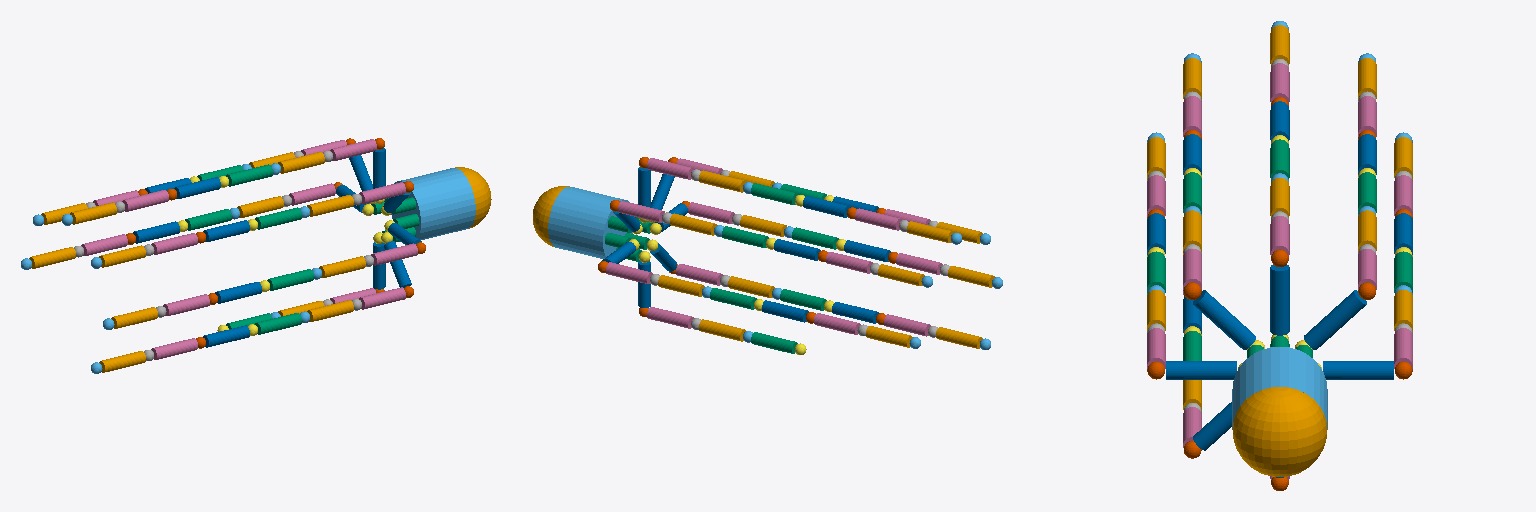
--- What the picture shows (computed from the rendered views, not written in the file) ---
3 views of the same robot in one strip: view 1: azimuth 30°, elevation 25°; view 2: azimuth 150°, elevation 25°; view 3: azimuth 270°, elevation 25° (orthographic).
Model sentinel/octopus_7_arms_3_segments with 108 links and 107 joints (39 revolute, 68 fixed), rooted at eye, posed every joint at zero.
Links seen in each view (by area): view 1: head, eye, branch_41_cylinder, branch_51_cylinder, branch_54_cylinder, branch_04_cylinder, branch_33_cylinder, branch_44_cylinder, branch_23_cylinder, branch_25_cylinder, branch_26_cylinder, branch_32_cylinder (+20 smaller); view 2: head, eye, branch_12_cylinder, branch_25_cylinder, branch_62_cylinder, branch_03_cylinder, branch_22_cylinder, branch_43_cylinder, branch_46_cylinder, branch_55_cylinder, branch_01_cylinder, branch_04_cylinder (+23 smaller); view 3: eye, head, branch_20_cylinder, branch_10_cylinder, branch_30_cylinder, branch_00_cylinder, branch_40_cylinder, branch_50_cylinder, branch_25_cylinder, branch_21_cylinder, branch_26_cylinder, branch_23_cylinder (+28 smaller).
Link boxes in pixels (x1=…): head: x1=391, y1=168, x2=475, y2=240; eye: x1=455, y1=167, x2=491, y2=228; branch_41_cylinder: x1=371, y1=243, x2=417, y2=265; branch_51_cylinder: x1=359, y1=287, x2=405, y2=309; branch_54_cylinder: x1=203, y1=325, x2=249, y2=347; branch_04_cylinder: x1=133, y1=221, x2=179, y2=243; branch_33_cylinder: x1=255, y1=207, x2=301, y2=229; branch_44_cylinder: x1=215, y1=282, x2=261, y2=303; branch_23_cylinder: x1=226, y1=164, x2=272, y2=186; branch_25_cylinder: x1=122, y1=190, x2=168, y2=211; branch_26_cylinder: x1=70, y1=202, x2=116, y2=224; branch_32_cylinder: x1=307, y1=195, x2=353, y2=216; head: x1=548, y1=187, x2=632, y2=258; eye: x1=533, y1=186, x2=569, y2=246; branch_12_cylinder: x1=670, y1=213, x2=716, y2=235; branch_25_cylinder: x1=855, y1=208, x2=901, y2=230; branch_62_cylinder: x1=699, y1=319, x2=745, y2=341; branch_03_cylinder: x1=710, y1=288, x2=756, y2=309; branch_22_cylinder: x1=699, y1=170, x2=745, y2=192; branch_43_cylinder: x1=792, y1=227, x2=838, y2=249; branch_46_cylinder: x1=948, y1=266, x2=994, y2=287; branch_55_cylinder: x1=884, y1=314, x2=930, y2=336; branch_01_cylinder: x1=606, y1=262, x2=652, y2=283; branch_04_cylinder: x1=762, y1=300, x2=808, y2=322; eye: x1=1232, y1=387, x2=1327, y2=476; head: x1=1232, y1=347, x2=1327, y2=428; branch_20_cylinder: x1=1270, y1=265, x2=1289, y2=335; branch_10_cylinder: x1=1304, y1=290, x2=1366, y2=349; branch_30_cylinder: x1=1193, y1=290, x2=1255, y2=349; branch_00_cylinder: x1=1323, y1=361, x2=1393, y2=379; branch_40_cylinder: x1=1166, y1=361, x2=1236, y2=379; branch_50_cylinder: x1=1193, y1=402, x2=1231, y2=450; branch_25_cylinder: x1=1270, y1=63, x2=1289, y2=102; branch_21_cylinder: x1=1270, y1=216, x2=1289, y2=255; branch_26_cylinder: x1=1270, y1=25, x2=1289, y2=64; branch_23_cylinder: x1=1270, y1=139, x2=1289, y2=178.
Bounding box of the posed robot: 1.55 × 0.56 × 0.5601 m (x, y, z).
Geometry: primitives only (box / cylinder / sphere), no mesh files.

URDF robot description (sentinel/octopus_7_arms_3_segments):
<?xml version="1.0"?>
<robot name="sentinel/octopus_7_arms_3_segments">
<link name="eye">
  <inertial>
   <mass value="1"/>
   <inertia ixx="0.004000000000000001" ixy="0" ixz="0" iyy="0.004000000000000001" iyz="0" izz="0.004000000000000001"/>
  </inertial>
  <collision>
    <origin rpy="0 0 0" xyz="0 0 0"/>
    <geometry>
      <sphere radius="0.1"/>
    </geometry>
  </collision>
  <visual>
    <origin rpy="0 0 0" xyz="0 0 0"/>
    <geometry>
      <sphere radius="0.1"/>
    </geometry>
  </visual>
</link>

 <link name="head">
  <inertial>
    <mass value="1"/>
    <inertia ixx="0.0058333333333333345" ixy="0" ixz="0" iyy="0.0058333333333333345" iyz="0" izz="0.0025000000000000005"/>
  </inertial>
  <visual>
    <origin rpy="0 1.57 0" xyz="-0.1 0 0"/>
    <geometry>
      <cylinder length="0.2" radius="0.1"/>
    </geometry>
  </visual>
  <collision>
    <origin rpy="0 1.57 0" xyz="-0.1 0 0"/>
    <geometry>
      <cylinder length="0.2" radius="0.1"/>
    </geometry>
  </collision>
 </link>

<joint name="joint_fixed_eye_head" type="fixed">
  <origin rpy="0 0 0" xyz="0 0 0"/>
  <parent link="eye"/>
  <child link="head"/>
</joint>

<!--############################################################################
branch_00
##############################################################################-->
 <link name="branch_00_cylinder_stub">
  <inertial>
    <mass value="1"/>
    <inertia ixx="0.0005687499999999999" ixy="0" ixz="0" iyy="0.0005687499999999999" iyz="0" izz="0.0001"/>
  </inertial>
  <visual>
    <origin rpy="0 1.57 0" xyz="-0.0375 0 0"/>
    <geometry>
      <cylinder length="0.075" radius="0.02"/>
    </geometry>
  </visual>
  <collision>
    <origin rpy="0 1.57 0" xyz="-0.0375 0 0"/>
    <geometry>
      <cylinder length="0.075" radius="0.02"/>
    </geometry>
  </collision>
 </link>

<joint name="joint_fixed_head_branch_00_cylinder_stub" type="fixed">
  <origin rpy="0 0 0" xyz="-0.2 0.06999999999999999 0.0"/>
  <parent link="head"/>
  <child link="branch_00_cylinder_stub"/>
</joint>

<link name="branch_00_sphere_stub">
  <inertial>
   <mass value="1"/>
   <inertia ixx="0.00014439999999999999" ixy="0" ixz="0" iyy="0.00014439999999999999" iyz="0" izz="0.00014439999999999999"/>
  </inertial>
  <collision>
    <origin rpy="0 0 0" xyz="-0.095 0 0"/>
    <geometry>
      <sphere radius="0.019"/>
    </geometry>
  </collision>
  <visual>
    <origin rpy="0 0 0" xyz="-0.095 0 0"/>
    <geometry>
      <sphere radius="0.019"/>
    </geometry>
  </visual>
</link>

<joint name="joint_fixed_branch_00_cylinder_stub_branch_00_sphere_stub" type="fixed">
  <origin rpy="0 0 0" xyz="0 0 0"/>
  <parent link="branch_00_cylinder_stub"/>
  <child link="branch_00_sphere_stub"/>
</joint>

 <link name="branch_00_cylinder">
  <inertial>
    <mass value="1"/>
    <inertia ixx="0.0019749999999999998" ixy="0" ixz="0" iyy="0.0019749999999999998" iyz="0" izz="0.0001"/>
  </inertial>
  <visual>
    <origin rpy="0 1.5707963267948966 1.57" xyz="-0.095 0.095 0.0"/>
    <geometry>
      <cylinder length="0.15" radius="0.02"/>
    </geometry>
  </visual>
  <collision>
    <origin rpy="0 1.5707963267948966 1.57" xyz="-0.095 0.095 0.0"/>
    <geometry>
      <cylinder length="0.15" radius="0.02"/>
    </geometry>
  </collision>
 </link>

<joint name="joint_fixed_branch_00_sphere_stub_branch_00_cylinder" type="fixed">
  <origin rpy="0 0 0" xyz="0 0 0"/>
  <parent link="branch_00_sphere_stub"/>
  <child link="branch_00_cylinder"/>
</joint>

<link name="branch_00">
  <inertial>
   <mass value="1"/>
   <inertia ixx="0.00014439999999999999" ixy="0" ixz="0" iyy="0.00014439999999999999" iyz="0" izz="0.00014439999999999999"/>
  </inertial>
  <collision>
    <origin rpy="0 0 0" xyz="0 0 0"/>
    <geometry>
      <sphere radius="0.019"/>
    </geometry>
  </collision>
  <visual>
    <origin rpy="0 0 0" xyz="0 0 0"/>
    <geometry>
      <sphere radius="0.019"/>
    </geometry>
  </visual>
</link>

<joint name="joint_fixed_branch_00_cylinder_branch_00" type="fixed">
  <origin rpy="0 0 0" xyz="-0.095 0.19 0.0"/>
  <parent link="branch_00_cylinder"/>
  <child link="branch_00"/>
</joint>

<!--############################################################################
branch_01
##############################################################################-->
 <link name="branch_01_cylinder">
  <inertial>
    <mass value="1"/>
    <inertia ixx="0.0019749999999999998" ixy="0" ixz="0" iyy="0.0019749999999999998" iyz="0" izz="0.0001"/>
  </inertial>
  <visual>
    <origin rpy="0 1.57 0" xyz="-0.095 0 0"/>
    <geometry>
      <cylinder length="0.15" radius="0.02"/>
    </geometry>
  </visual>
  <collision>
    <origin rpy="0 1.57 0" xyz="-0.095 0 0"/>
    <geometry>
      <cylinder length="0.15" radius="0.02"/>
    </geometry>
  </collision>
 </link>

<joint name="joint_revolute_branch_00_branch_01_cylinder_Z" type="revolute">
  <origin rpy="0 0 0" xyz="0 0 0"/>
  <parent link="branch_00"/>
  <child link="branch_01_cylinder"/>
  <axis xyz="0 0.0 -1.0"/>
  <dynamics damping="0.01" friction="0.5"/>
  <limit lower="-1.5707963267948966" upper="1.5707963267948966" effort="0.01" velocity="100"/>
</joint>

<link name="branch_01">
  <inertial>
   <mass value="1"/>
   <inertia ixx="0.00014439999999999999" ixy="0" ixz="0" iyy="0.00014439999999999999" iyz="0" izz="0.00014439999999999999"/>
  </inertial>
  <collision>
    <origin rpy="0 0 0" xyz="0 0 0"/>
    <geometry>
      <sphere radius="0.019"/>
    </geometry>
  </collision>
  <visual>
    <origin rpy="0 0 0" xyz="0 0 0"/>
    <geometry>
      <sphere radius="0.019"/>
    </geometry>
  </visual>
</link>

<joint name="joint_fixed_branch_01_cylinder_branch_01" type="fixed">
  <origin rpy="0 0 0" xyz="-0.19 0 0"/>
  <parent link="branch_01_cylinder"/>
  <child link="branch_01"/>
</joint>

<!--############################################################################
branch_02
##############################################################################-->
 <link name="branch_02_cylinder">
  <inertial>
    <mass value="1"/>
    <inertia ixx="0.0019749999999999998" ixy="0" ixz="0" iyy="0.0019749999999999998" iyz="0" izz="0.0001"/>
  </inertial>
  <visual>
    <origin rpy="0 1.57 0" xyz="-0.095 0 0"/>
    <geometry>
      <cylinder length="0.15" radius="0.02"/>
    </geometry>
  </visual>
  <collision>
    <origin rpy="0 1.57 0" xyz="-0.095 0 0"/>
    <geometry>
      <cylinder length="0.15" radius="0.02"/>
    </geometry>
  </collision>
 </link>

<joint name="joint_revolute_branch_01_branch_02_cylinder_Z" type="revolute">
  <origin rpy="0 0 0" xyz="0 0 0"/>
  <parent link="branch_01"/>
  <child link="branch_02_cylinder"/>
  <axis xyz="0 0.0 -1.0"/>
  <dynamics damping="0.01" friction="0.5"/>
  <limit lower="-1.5707963267948966" upper="1.5707963267948966" effort="0.01" velocity="100"/>
</joint>

<link name="branch_02">
  <inertial>
   <mass value="1"/>
   <inertia ixx="0.00014439999999999999" ixy="0" ixz="0" iyy="0.00014439999999999999" iyz="0" izz="0.00014439999999999999"/>
  </inertial>
  <collision>
    <origin rpy="0 0 0" xyz="0 0 0"/>
    <geometry>
      <sphere radius="0.019"/>
    </geometry>
  </collision>
  <visual>
    <origin rpy="0 0 0" xyz="0 0 0"/>
    <geometry>
      <sphere radius="0.019"/>
    </geometry>
  </visual>
</link>

<joint name="joint_fixed_branch_02_cylinder_branch_02" type="fixed">
  <origin rpy="0 0 0" xyz="-0.19 0 0"/>
  <parent link="branch_02_cylinder"/>
  <child link="branch_02"/>
</joint>

<!--############################################################################
branch_03
##############################################################################-->
 <link name="branch_03_cylinder">
  <inertial>
    <mass value="1"/>
    <inertia ixx="0.0019749999999999998" ixy="0" ixz="0" iyy="0.0019749999999999998" iyz="0" izz="0.0001"/>
  </inertial>
  <visual>
    <origin rpy="0 1.57 0" xyz="-0.095 0 0"/>
    <geometry>
      <cylinder length="0.15" radius="0.02"/>
    </geometry>
  </visual>
  <collision>
    <origin rpy="0 1.57 0" xyz="-0.095 0 0"/>
    <geometry>
      <cylinder length="0.15" radius="0.02"/>
    </geometry>
  </collision>
 </link>

<joint name="joint_revolute_branch_02_branch_03_cylinder_Z" type="revolute">
  <origin rpy="0 0 0" xyz="0 0 0"/>
  <parent link="branch_02"/>
  <child link="branch_03_cylinder"/>
  <axis xyz="0 0.0 -1.0"/>
  <dynamics damping="0.01" friction="0.5"/>
  <limit lower="-1.5707963267948966" upper="1.5707963267948966" effort="0.01" velocity="100"/>
</joint>

<link name="branch_03">
  <inertial>
   <mass value="1"/>
   <inertia ixx="0.00014439999999999999" ixy="0" ixz="0" iyy="0.00014439999999999999" iyz="0" izz="0.00014439999999999999"/>
  </inertial>
  <collision>
    <origin rpy="0 0 0" xyz="0 0 0"/>
    <geometry>
      <sphere radius="0.019"/>
    </geometry>
  </collision>
  <visual>
    <origin rpy="0 0 0" xyz="0 0 0"/>
    <geometry>
      <sphere radius="0.019"/>
    </geometry>
  </visual>
</link>

<joint name="joint_fixed_branch_03_cylinder_branch_03" type="fixed">
  <origin rpy="0 0 0" xyz="-0.19 0 0"/>
  <parent link="branch_03_cylinder"/>
  <child link="branch_03"/>
</joint>

<!--############################################################################
branch_04
##############################################################################-->
 <link name="branch_04_cylinder">
  <inertial>
    <mass value="1"/>
    <inertia ixx="0.0019749999999999998" ixy="0" ixz="0" iyy="0.0019749999999999998" iyz="0" izz="0.0001"/>
  </inertial>
  <visual>
    <origin rpy="0 1.57 0" xyz="-0.095 0 0"/>
    <geometry>
      <cylinder length="0.15" radius="0.02"/>
    </geometry>
  </visual>
  <collision>
    <origin rpy="0 1.57 0" xyz="-0.095 0 0"/>
    <geometry>
      <cylinder length="0.15" radius="0.02"/>
    </geometry>
  </collision>
 </link>

<joint name="joint_revolute_branch_03_branch_04_cylinder_Z" type="revolute">
  <origin rpy="0 0 0" xyz="0 0 0"/>
  <parent link="branch_03"/>
  <child link="branch_04_cylinder"/>
  <axis xyz="0 0.0 -1.0"/>
  <dynamics damping="0.01" friction="0.5"/>
  <limit lower="-1.5707963267948966" upper="1.5707963267948966" effort="0.01" velocity="100"/>
</joint>

<link name="branch_04">
  <inertial>
   <mass value="1"/>
   <inertia ixx="0.00014439999999999999" ixy="0" ixz="0" iyy="0.00014439999999999999" iyz="0" izz="0.00014439999999999999"/>
  </inertial>
  <collision>
    <origin rpy="0 0 0" xyz="0 0 0"/>
    <geometry>
      <sphere radius="0.019"/>
    </geometry>
  </collision>
  <visual>
    <origin rpy="0 0 0" xyz="0 0 0"/>
    <geometry>
      <sphere radius="0.019"/>
    </geometry>
  </visual>
</link>

<joint name="joint_fixed_branch_04_cylinder_branch_04" type="fixed">
  <origin rpy="0 0 0" xyz="-0.19 0 0"/>
  <parent link="branch_04_cylinder"/>
  <child link="branch_04"/>
</joint>

<!--############################################################################
branch_05
##############################################################################-->
 <link name="branch_05_cylinder">
  <inertial>
    <mass value="1"/>
    <inertia ixx="0.0019749999999999998" ixy="0" ixz="0" iyy="0.0019749999999999998" iyz="0" izz="0.0001"/>
  </inertial>
  <visual>
    <origin rpy="0 1.57 0" xyz="-0.095 0 0"/>
    <geometry>
      <cylinder length="0.15" radius="0.02"/>
    </geometry>
  </visual>
  <collision>
    <origin rpy="0 1.57 0" xyz="-0.095 0 0"/>
    <geometry>
      <cylinder length="0.15" radius="0.02"/>
    </geometry>
  </collision>
 </link>

<joint name="joint_revolute_branch_04_branch_05_cylinder_Z" type="revolute">
  <origin rpy="0 0 0" xyz="0 0 0"/>
  <parent link="branch_04"/>
  <child link="branch_05_cylinder"/>
  <axis xyz="0 0.0 -1.0"/>
  <dynamics damping="0.01" friction="0.5"/>
  <limit lower="-1.5707963267948966" upper="1.5707963267948966" effort="0.01" velocity="100"/>
</joint>

<link name="branch_05">
  <inertial>
   <mass value="1"/>
   <inertia ixx="0.00014439999999999999" ixy="0" ixz="0" iyy="0.00014439999999999999" iyz="0" izz="0.00014439999999999999"/>
  </inertial>
  <collision>
    <origin rpy="0 0 0" xyz="0 0 0"/>
    <geometry>
      <sphere radius="0.019"/>
    </geometry>
  </collision>
  <visual>
    <origin rpy="0 0 0" xyz="0 0 0"/>
    <geometry>
      <sphere radius="0.019"/>
    </geometry>
  </visual>
</link>

<joint name="joint_fixed_branch_05_cylinder_branch_05" type="fixed">
  <origin rpy="0 0 0" xyz="-0.19 0 0"/>
  <parent link="branch_05_cylinder"/>
  <child link="branch_05"/>
</joint>

<!--############################################################################
branch_06
##############################################################################-->
 <link name="branch_06_cylinder">
  <inertial>
    <mass value="1"/>
    <inertia ixx="0.0019749999999999998" ixy="0" ixz="0" iyy="0.0019749999999999998" iyz="0" izz="0.0001"/>
  </inertial>
  <visual>
    <origin rpy="0 1.57 0" xyz="-0.095 0 0"/>
    <geometry>
      <cylinder length="0.15" radius="0.02"/>
    </geometry>
  </visual>
  <collision>
    <origin rpy="0 1.57 0" xyz="-0.095 0 0"/>
    <geometry>
      <cylinder length="0.15" radius="0.02"/>
    </geometry>
  </collision>
 </link>

<joint name="joint_revolute_branch_05_branch_06_cylinder_Z" type="revolute">
  <origin rpy="0 0 0" xyz="0 0 0"/>
  <parent link="branch_05"/>
  <child link="branch_06_cylinder"/>
  <axis xyz="0 0.0 -1.0"/>
  <dynamics damping="0.01" friction="0.5"/>
  <limit lower="-1.5707963267948966" upper="1.5707963267948966" effort="0.01" velocity="100"/>
</joint>

<link name="branch_06">
  <inertial>
   <mass value="1"/>
   <inertia ixx="0.00014439999999999999" ixy="0" ixz="0" iyy="0.00014439999999999999" iyz="0" izz="0.00014439999999999999"/>
  </inertial>
  <collision>
    <origin rpy="0 0 0" xyz="0 0 0"/>
    <geometry>
      <sphere radius="0.019"/>
    </geometry>
  </collision>
  <visual>
    <origin rpy="0 0 0" xyz="0 0 0"/>
    <geometry>
      <sphere radius="0.019"/>
    </geometry>
  </visual>
</link>

<joint name="joint_fixed_branch_06_cylinder_branch_06" type="fixed">
  <origin rpy="0 0 0" xyz="-0.19 0 0"/>
  <parent link="branch_06_cylinder"/>
  <child link="branch_06"/>
</joint>

<!--############################################################################
branch_10
##############################################################################-->
 <link name="branch_10_cylinder_stub">
  <inertial>
    <mass value="1"/>
    <inertia ixx="0.0005687499999999999" ixy="0" ixz="0" iyy="0.0005687499999999999" iyz="0" izz="0.0001"/>
  </inertial>
  <visual>
    <origin rpy="0 1.57 0" xyz="-0.0375 0 0"/>
    <geometry>
      <cylinder length="0.075" radius="0.02"/>
    </geometry>
  </visual>
  <collision>
    <origin rpy="0 1.57 0" xyz="-0.0375 0 0"/>
    <geometry>
      <cylinder length="0.075" radius="0.02"/>
    </geometry>
  </collision>
 </link>

<joint name="joint_fixed_head_branch_10_cylinder_stub" type="fixed">
  <origin rpy="0 0 0" xyz="-0.2 0.049497474683058325 0.04949747468305832"/>
  <parent link="head"/>
  <child link="branch_10_cylinder_stub"/>
</joint>

<link name="branch_10_sphere_stub">
  <inertial>
   <mass value="1"/>
   <inertia ixx="0.00014439999999999999" ixy="0" ixz="0" iyy="0.00014439999999999999" iyz="0" izz="0.00014439999999999999"/>
  </inertial>
  <collision>
    <origin rpy="0 0 0" xyz="-0.095 0 0"/>
    <geometry>
      <sphere radius="0.019"/>
    </geometry>
  </collision>
  <visual>
    <origin rpy="0 0 0" xyz="-0.095 0 0"/>
    <geometry>
      <sphere radius="0.019"/>
    </geometry>
  </visual>
</link>

<joint name="joint_fixed_branch_10_cylinder_stub_branch_10_sphere_stub" type="fixed">
  <origin rpy="0 0 0" xyz="0 0 0"/>
  <parent link="branch_10_cylinder_stub"/>
  <child link="branch_10_sphere_stub"/>
</joint>

 <link name="branch_10_cylinder">
  <inertial>
    <mass value="1"/>
    <inertia ixx="0.0019749999999999998" ixy="0" ixz="0" iyy="0.0019749999999999998" iyz="0" izz="0.0001"/>
  </inertial>
  <visual>
    <origin rpy="0 0.7853981633974484 1.57" xyz="-0.095 0.06717514421272201 0.06717514421272201"/>
    <geometry>
      <cylinder length="0.15" radius="0.02"/>
    </geometry>
  </visual>
  <collision>
    <origin rpy="0 0.7853981633974484 1.57" xyz="-0.095 0.06717514421272201 0.06717514421272201"/>
    <geometry>
      <cylinder length="0.15" radius="0.02"/>
    </geometry>
  </collision>
 </link>

<joint name="joint_fixed_branch_10_sphere_stub_branch_10_cylinder" type="fixed">
  <origin rpy="0 0 0" xyz="0 0 0"/>
  <parent link="branch_10_sphere_stub"/>
  <child link="branch_10_cylinder"/>
</joint>

<link name="branch_10">
  <inertial>
   <mass value="1"/>
   <inertia ixx="0.00014439999999999999" ixy="0" ixz="0" iyy="0.00014439999999999999" iyz="0" izz="0.00014439999999999999"/>
  </inertial>
  <collision>
    <origin rpy="0 0 0" xyz="0 0 0"/>
    <geometry>
      <sphere radius="0.019"/>
    </geometry>
  </collision>
  <visual>
    <origin rpy="0 0 0" xyz="0 0 0"/>
    <geometry>
      <sphere radius="0.019"/>
    </geometry>
  </visual>
</link>

<joint name="joint_fixed_branch_10_cylinder_branch_10" type="fixed">
  <origin rpy="0 0 0" xyz="-0.095 0.13435028842544403 0.13435028842544403"/>
  <parent link="branch_10_cylinder"/>
  <child link="branch_10"/>
</joint>

<!--############################################################################
branch_11
##############################################################################-->
 <link name="branch_11_cylinder">
  <inertial>
    <mass value="1"/>
    <inertia ixx="0.0019749999999999998" ixy="0" ixz="0" iyy="0.0019749999999999998" iyz="0" izz="0.0001"/>
  </inertial>
  <visual>
    <origin rpy="0 1.57 0" xyz="-0.095 0 0"/>
    <geometry>
      <cylinder length="0.15" radius="0.02"/>
    </geometry>
  </visual>
  <collision>
    <origin rpy="0 1.57 0" xyz="-0.095 0 0"/>
    <geometry>
      <cylinder length="0.15" radius="0.02"/>
    </geometry>
  </collision>
 </link>

<joint name="joint_revolute_branch_10_branch_11_cylinder_Z" type="revolute">
  <origin rpy="0 0 0" xyz="0 0 0"/>
  <parent link="branch_10"/>
  <child link="branch_11_cylinder"/>
  <axis xyz="0 0.7071067811865475 -0.7071067811865476"/>
  <dynamics damping="0.01" friction="0.5"/>
  <limit lower="-1.5707963267948966" upper="1.5707963267948966" effort="0.01" velocity="100"/>
</joint>

<link name="branch_11">
  <inertial>
   <mass value="1"/>
   <inertia ixx="0.00014439999999999999" ixy="0" ixz="0" iyy="0.00014439999999999999" iyz="0" izz="0.00014439999999999999"/>
  </inertial>
  <collision>
    <origin rpy="0 0 0" xyz="0 0 0"/>
    <geometry>
      <sphere radius="0.019"/>
    </geometry>
  </collision>
  <visual>
    <origin rpy="0 0 0" xyz="0 0 0"/>
    <geometry>
      <sphere radius="0.019"/>
    </geometry>
  </visual>
</link>

<joint name="joint_fixed_branch_11_cylinder_branch_11" type="fixed">
  <origin rpy="0 0 0" xyz="-0.19 0 0"/>
  <parent link="branch_11_cylinder"/>
  <child link="branch_11"/>
</joint>

<!--############################################################################
branch_12
##############################################################################-->
 <link name="branch_12_cylinder">
  <inertial>
    <mass value="1"/>
    <inertia ixx="0.0019749999999999998" ixy="0" ixz="0" iyy="0.0019749999999999998" iyz="0" izz="0.0001"/>
  </inertial>
  <visual>
    <origin rpy="0 1.57 0" xyz="-0.095 0 0"/>
    <geometry>
      <cylinder length="0.15" radius="0.02"/>
    </geometry>
  </visual>
  <collision>
    <origin rpy="0 1.57 0" xyz="-0.095 0 0"/>
    <geometry>
      <cylinder length="0.15" radius="0.02"/>
    </geometry>
  </collision>
 </link>

<joint name="joint_revolute_branch_11_branch_12_cylinder_Z" type="revolute">
  <origin rpy="0 0 0" xyz="0 0 0"/>
  <parent link="branch_11"/>
  <child link="branch_12_cylinder"/>
  <axis xyz="0 0.7071067811865475 -0.7071067811865476"/>
  <dynamics damping="0.01" friction="0.5"/>
  <limit lower="-1.5707963267948966" upper="1.5707963267948966" effort="0.01" velocity="100"/>
</joint>

<link name="branch_12">
  <inertial>
   <mass value="1"/>
   <inertia ixx="0.00014439999999999999" ixy="0" ixz="0" iyy="0.00014439999999999999" iyz="0" izz="0.00014439999999999999"/>
  </inertial>
  <collision>
    <origin rpy="0 0 0" xyz="0 0 0"/>
    <geometry>
      <sphere radius="0.019"/>
    </geometry>
  </collision>
  <visual>
    <origin rpy="0 0 0" xyz="0 0 0"/>
    <geometry>
      <sphere radius="0.019"/>
    </geometry>
  </visual>
</link>

<joint name="joint_fixed_branch_12_cylinder_branch_12" type="fixed">
  <origin rpy="0 0 0" xyz="-0.19 0 0"/>
  <parent link="branch_12_cylinder"/>
  <child link="branch_12"/>
</joint>

<!--############################################################################
branch_13
##############################################################################-->
 <link name="branch_13_cylinder">
  <inertial>
    <mass value="1"/>
    <inertia ixx="0.0019749999999999998" ixy="0" ixz="0" iyy="0.0019749999999999998" iyz="0" izz="0.0001"/>
  </inertial>
  <visual>
    <origin rpy="0 1.57 0" xyz="-0.095 0 0"/>
    <geometry>
      <cylinder length="0.15" radius="0.02"/>
    </geometry>
  </visual>
  <collision>
    <origin rpy="0 1.57 0" xyz="-0.095 0 0"/>
    <geometry>
      <cylinder length="0.15" radius="0.02"/>
    </geometry>
  </collision>
 </link>

<joint name="joint_revolute_branch_12_branch_13_cylinder_Z" type="revolute">
  <origin rpy="0 0 0" xyz="0 0 0"/>
  <parent link="branch_12"/>
  <child link="branch_13_cylinder"/>
  <axis xyz="0 0.7071067811865475 -0.7071067811865476"/>
  <dynamics damping="0.01" friction="0.5"/>
  <limit lower="-1.5707963267948966" upper="1.5707963267948966" effort="0.01" velocity="100"/>
</joint>

<link name="branch_13">
  <inertial>
   <mass value="1"/>
   <inertia ixx="0.00014439999999999999" ixy="0" ixz="0" iyy="0.00014439999999999999" iyz="0" izz="0.00014439999999999999"/>
  </inertial>
  <collision>
    <origin rpy="0 0 0" xyz="0 0 0"/>
    <geometry>
      <sphere radius="0.019"/>
    </geometry>
  </collision>
  <visual>
    <origin rpy="0 0 0" xyz="0 0 0"/>
    <geometry>
      <sphere radius="0.019"/>
    </geometry>
  </visual>
</link>

<joint name="joint_fixed_branch_13_cylinder_branch_13" type="fixed">
  <origin rpy="0 0 0" xyz="-0.19 0 0"/>
  <parent link="branch_13_cylinder"/>
  <child link="branch_13"/>
</joint>

<!--############################################################################
branch_14
##############################################################################-->
 <link name="branch_14_cylinder">
  <inertial>
    <mass value="1"/>
    <inertia ixx="0.0019749999999999998" ixy="0" ixz="0" iyy="0.0019749999999999998" iyz="0" izz="0.0001"/>
  </inertial>
  <visual>
    <origin rpy="0 1.57 0" xyz="-0.095 0 0"/>
    <geometry>
      <cylinder length="0.15" radius="0.02"/>
    </geometry>
  </visual>
  <collision>
    <origin rpy="0 1.57 0" xyz="-0.095 0 0"/>
    <geometry>
      <cylinder length="0.15" radius="0.02"/>
    </geometry>
  </collision>
 </link>

<joint name="joint_revolute_branch_13_branch_14_cylinder_Z" type="revolute">
  <origin rpy="0 0 0" xyz="0 0 0"/>
  <parent link="branch_13"/>
  <child link="branch_14_cylinder"/>
  <axis xyz="0 0.7071067811865475 -0.7071067811865476"/>
  <dynamics damping="0.01" friction="0.5"/>
  <limit lower="-1.5707963267948966" upper="1.5707963267948966" effort="0.01" velocity="100"/>
</joint>

<link name="branch_14">
  <inertial>
   <mass value="1"/>
   <inertia ixx="0.00014439999999999999" ixy="0" ixz="0" iyy="0.00014439999999999999" iyz="0" izz="0.00014439999999999999"/>
  </inertial>
  <collision>
    <origin rpy="0 0 0" xyz="0 0 0"/>
    <geometry>
      <sphere radius="0.019"/>
    </geometry>
  </collision>
  <visual>
    <origin rpy="0 0 0" xyz="0 0 0"/>
    <geometry>
      <sphere radius="0.019"/>
    </geometry>
  </visual>
</link>

<joint name="joint_fixed_branch_14_cylinder_branch_14" type="fixed">
  <origin rpy="0 0 0" xyz="-0.19 0 0"/>
  <parent link="branch_14_cylinder"/>
  <child link="branch_14"/>
</joint>

<!--############################################################################
branch_15
##############################################################################-->
 <link name="branch_15_cylinder">
  <inertial>
    <mass value="1"/>
    <inertia ixx="0.0019749999999999998" ixy="0" ixz="0" iyy="0.0019749999999999998" iyz="0" izz="0.0001"/>
  </inertial>
  <visual>
    <origin rpy="0 1.57 0" xyz="-0.095 0 0"/>
    <geometry>
      <cylinder length="0.15" radius="0.02"/>
    </geometry>
  </visual>
  <collision>
    <origin rpy="0 1.57 0" xyz="-0.095 0 0"/>
    <geometry>
      <cylinder length="0.15" radius="0.02"/>
    </geometry>
  </collision>
 </link>

<joint name="joint_revolute_branch_14_branch_15_cylinder_Z" type="revolute">
  <origin rpy="0 0 0" xyz="0 0 0"/>
  <parent link="branch_14"/>
  <child link="branch_15_cylinder"/>
  <axis xyz="0 0.7071067811865475 -0.7071067811865476"/>
  <dynamics damping="0.01" friction="0.5"/>
  <limit lower="-1.5707963267948966" upper="1.5707963267948966" effort="0.01" velocity="100"/>
</joint>

<link name="branch_15">
  <inertial>
   <mass value="1"/>
   <inertia ixx="0.00014439999999999999" ixy="0" ixz="0" iyy="0.00014439999999999999" iyz="0" izz="0.00014439999999999999"/>
  </inertial>
  <collision>
    <origin rpy="0 0 0" xyz="0 0 0"/>
    <geometry>
      <sphere radius="0.019"/>
    </geometry>
  </collision>
  <visual>
    <origin rpy="0 0 0" xyz="0 0 0"/>
    <geometry>
      <sphere radius="0.019"/>
    </geometry>
  </visual>
</link>

<joint name="joint_fixed_branch_15_cylinder_branch_15" type="fixed">
  <origin rpy="0 0 0" xyz="-0.19 0 0"/>
  <parent link="branch_15_cylinder"/>
  <child link="branch_15"/>
</joint>

<!--############################################################################
branch_16
##############################################################################-->
 <link name="branch_16_cylinder">
  <inertial>
    <mass value="1"/>
    <inertia ixx="0.0019749999999999998" ixy="0" ixz="0" iyy="0.0019749999999999998" iyz="0" izz="0.0001"/>
  </inertial>
  <visual>
    <origin rpy="0 1.57 0" xyz="-0.095 0 0"/>
    <geometry>
      <cylinder length="0.15" radius="0.02"/>
    </geometry>
  </visual>
  <collision>
    <origin rpy="0 1.57 0" xyz="-0.095 0 0"/>
    <geometry>
      <cylinder length="0.15" radius="0.02"/>
    </geometry>
  </collision>
 </link>

<joint name="joint_revolute_branch_15_branch_16_cylinder_Z" type="revolute">
  <origin rpy="0 0 0" xyz="0 0 0"/>
  <parent link="branch_15"/>
  <child link="branch_16_cylinder"/>
  <axis xyz="0 0.7071067811865475 -0.7071067811865476"/>
  <dynamics damping="0.01" friction="0.5"/>
  <limit lower="-1.5707963267948966" upper="1.5707963267948966" effort="0.01" velocity="100"/>
</joint>

<link name="branch_16">
  <inertial>
   <mass value="1"/>
   <inertia ixx="0.00014439999999999999" ixy="0" ixz="0" iyy="0.00014439999999999999" iyz="0" izz="0.00014439999999999999"/>
  </inertial>
  <collision>
    <origin rpy="0 0 0" xyz="0 0 0"/>
    <geometry>
      <sphere radius="0.019"/>
    </geometry>
  </collision>
  <visual>
    <origin rpy="0 0 0" xyz="0 0 0"/>
    <geometry>
      <sphere radius="0.019"/>
    </geometry>
  </visual>
</link>

<joint name="joint_fixed_branch_16_cylinder_branch_16" type="fixed">
  <origin rpy="0 0 0" xyz="-0.19 0 0"/>
  <parent link="branch_16_cylinder"/>
  <child link="branch_16"/>
</joint>

<!--############################################################################
branch_20
##############################################################################-->
 <link name="branch_20_cylinder_stub">
  <inertial>
    <mass value="1"/>
    <inertia ixx="0.0005687499999999999" ixy="0" ixz="0" iyy="0.0005687499999999999" iyz="0" izz="0.0001"/>
  </inertial>
  <visual>
    <origin rpy="0 1.57 0" xyz="-0.0375 0 0"/>
    <geometry>
      <cylinder length="0.075" radius="0.02"/>
    </geometry>
  </visual>
  <collision>
    <origin rpy="0 1.57 0" xyz="-0.0375 0 0"/>
    <geometry>
      <cylinder length="0.075" radius="0.02"/>
    </geometry>
  </collision>
 </link>

<joint name="joint_fixed_head_branch_20_cylinder_stub" type="fixed">
  <origin rpy="0 0 0" xyz="-0.2 4.286263797015736e-18 0.06999999999999999"/>
  <parent link="head"/>
  <child link="branch_20_cylinder_stub"/>
</joint>

<link name="branch_20_sphere_stub">
  <inertial>
   <mass value="1"/>
   <inertia ixx="0.00014439999999999999" ixy="0" ixz="0" iyy="0.00014439999999999999" iyz="0" izz="0.00014439999999999999"/>
  </inertial>
  <collision>
    <origin rpy="0 0 0" xyz="-0.095 0 0"/>
    <geometry>
      <sphere radius="0.019"/>
    </geometry>
  </collision>
  <visual>
    <origin rpy="0 0 0" xyz="-0.095 0 0"/>
    <geometry>
      <sphere radius="0.019"/>
    </geometry>
  </visual>
</link>

<joint name="joint_fixed_branch_20_cylinder_stub_branch_20_sphere_stub" type="fixed">
  <origin rpy="0 0 0" xyz="0 0 0"/>
  <parent link="branch_20_cylinder_stub"/>
  <child link="branch_20_sphere_stub"/>
</joint>

 <link name="branch_20_cylinder">
  <inertial>
    <mass value="1"/>
    <inertia ixx="0.0019749999999999998" ixy="0" ixz="0" iyy="0.0019749999999999998" iyz="0" izz="0.0001"/>
  </inertial>
  <visual>
    <origin rpy="0 6.123233995736766e-17 1.57" xyz="-0.095 5.817072295949928e-18 0.095"/>
    <geometry>
      <cylinder length="0.15" radius="0.02"/>
    </geometry>
  </visual>
  <collision>
    <origin rpy="0 6.123233995736766e-17 1.57" xyz="-0.095 5.817072295949928e-18 0.095"/>
    <geometry>
      <cylinder length="0.15" radius="0.02"/>
    </geometry>
  </collision>
 </link>

<joint name="joint_fixed_branch_20_sphere_stub_branch_20_cylinder" type="fixed">
  <origin rpy="0 0 0" xyz="0 0 0"/>
  <parent link="branch_20_sphere_stub"/>
  <child link="branch_20_cylinder"/>
</joint>

<link name="branch_20">
  <inertial>
   <mass value="1"/>
   <inertia ixx="0.00014439999999999999" ixy="0" ixz="0" iyy="0.00014439999999999999" iyz="0" izz="0.00014439999999999999"/>
  </inertial>
  <collision>
    <origin rpy="0 0 0" xyz="0 0 0"/>
    <geometry>
      <sphere radius="0.019"/>
    </geometry>
  </collision>
  <visual>
    <origin rpy="0 0 0" xyz="0 0 0"/>
    <geometry>
      <sphere radius="0.019"/>
    </geometry>
  </visual>
</link>

<joint name="joint_fixed_branch_20_cylinder_branch_20" type="fixed">
  <origin rpy="0 0 0" xyz="-0.095 1.1634144591899856e-17 0.19"/>
  <parent link="branch_20_cylinder"/>
  <child link="branch_20"/>
</joint>

<!--############################################################################
branch_21
##############################################################################-->
 <link name="branch_21_cylinder">
  <inertial>
    <mass value="1"/>
    <inertia ixx="0.0019749999999999998" ixy="0" ixz="0" iyy="0.0019749999999999998" iyz="0" izz="0.0001"/>
  </inertial>
  <visual>
    <origin rpy="0 1.57 0" xyz="-0.095 0 0"/>
    <geometry>
      <cylinder length="0.15" radius="0.02"/>
    </geometry>
  </visual>
  <collision>
    <origin rpy="0 1.57 0" xyz="-0.095 0 0"/>
    <geometry>
      <cylinder length="0.15" radius="0.02"/>
    </geometry>
  </collision>
 </link>

<joint name="joint_revolute_branch_20_branch_21_cylinder_Z" type="revolute">
  <origin rpy="0 0 0" xyz="0 0 0"/>
  <parent link="branch_20"/>
  <child link="branch_21_cylinder"/>
  <axis xyz="0 1.0 -6.123233995736766e-17"/>
  <dynamics damping="0.01" friction="0.5"/>
  <limit lower="-1.5707963267948966" upper="1.5707963267948966" effort="0.01" velocity="100"/>
</joint>

<link name="branch_21">
  <inertial>
   <mass value="1"/>
   <inertia ixx="0.00014439999999999999" ixy="0" ixz="0" iyy="0.00014439999999999999" iyz="0" izz="0.00014439999999999999"/>
  </inertial>
  <collision>
    <origin rpy="0 0 0" xyz="0 0 0"/>
    <geometry>
      <sphere radius="0.019"/>
    </geometry>
  </collision>
  <visual>
    <origin rpy="0 0 0" xyz="0 0 0"/>
    <geometry>
      <sphere radius="0.019"/>
    </geometry>
  </visual>
</link>

<joint name="joint_fixed_branch_21_cylinder_branch_21" type="fixed">
  <origin rpy="0 0 0" xyz="-0.19 0 0"/>
  <parent link="branch_21_cylinder"/>
  <child link="branch_21"/>
</joint>

<!--############################################################################
branch_22
##############################################################################-->
 <link name="branch_22_cylinder">
  <inertial>
    <mass value="1"/>
    <inertia ixx="0.0019749999999999998" ixy="0" ixz="0" iyy="0.0019749999999999998" iyz="0" izz="0.0001"/>
  </inertial>
  <visual>
    <origin rpy="0 1.57 0" xyz="-0.095 0 0"/>
    <geometry>
      <cylinder length="0.15" radius="0.02"/>
    </geometry>
  </visual>
  <collision>
    <origin rpy="0 1.57 0" xyz="-0.095 0 0"/>
    <geometry>
      <cylinder length="0.15" radius="0.02"/>
    </geometry>
  </collision>
 </link>

<joint name="joint_revolute_branch_21_branch_22_cylinder_Z" type="revolute">
  <origin rpy="0 0 0" xyz="0 0 0"/>
  <parent link="branch_21"/>
  <child link="branch_22_cylinder"/>
  <axis xyz="0 1.0 -6.123233995736766e-17"/>
  <dynamics damping="0.01" friction="0.5"/>
  <limit lower="-1.5707963267948966" upper="1.5707963267948966" effort="0.01" velocity="100"/>
</joint>

<link name="branch_22">
  <inertial>
   <mass value="1"/>
   <inertia ixx="0.00014439999999999999" ixy="0" ixz="0" iyy="0.00014439999999999999" iyz="0" izz="0.00014439999999999999"/>
  </inertial>
  <collision>
    <origin rpy="0 0 0" xyz="0 0 0"/>
    <geometry>
      <sphere radius="0.019"/>
    </geometry>
  </collision>
  <visual>
    <origin rpy="0 0 0" xyz="0 0 0"/>
    <geometry>
      <sphere radius="0.019"/>
    </geometry>
  </visual>
</link>

<joint name="joint_fixed_branch_22_cylinder_branch_22" type="fixed">
  <origin rpy="0 0 0" xyz="-0.19 0 0"/>
  <parent link="branch_22_cylinder"/>
  <child link="branch_22"/>
</joint>

<!--############################################################################
branch_23
##############################################################################-->
 <link name="branch_23_cylinder">
  <inertial>
    <mass value="1"/>
    <inertia ixx="0.0019749999999999998" ixy="0" ixz="0" iyy="0.0019749999999999998" iyz="0" izz="0.0001"/>
  </inertial>
  <visual>
    <origin rpy="0 1.57 0" xyz="-0.095 0 0"/>
    <geometry>
      <cylinder length="0.15" radius="0.02"/>
    </geometry>
  </visual>
  <collision>
    <origin rpy="0 1.57 0" xyz="-0.095 0 0"/>
    <geometry>
      <cylinder length="0.15" radius="0.02"/>
    </geometry>
  </collision>
 </link>

<joint name="joint_revolute_branch_22_branch_23_cylinder_Z" type="revolute">
  <origin rpy="0 0 0" xyz="0 0 0"/>
  <parent link="branch_22"/>
  <child link="branch_23_cylinder"/>
  <axis xyz="0 1.0 -6.123233995736766e-17"/>
  <dynamics damping="0.01" friction="0.5"/>
  <limit lower="-1.5707963267948966" upper="1.5707963267948966" effort="0.01" velocity="100"/>
</joint>

<link name="branch_23">
  <inertial>
   <mass value="1"/>
   <inertia ixx="0.00014439999999999999" ixy="0" ixz="0" iyy="0.00014439999999999999" iyz="0" izz="0.00014439999999999999"/>
  </inertial>
  <collision>
    <origin rpy="0 0 0" xyz="0 0 0"/>
    <geometry>
      <sphere radius="0.019"/>
    </geometry>
  </collision>
  <visual>
    <origin rpy="0 0 0" xyz="0 0 0"/>
    <geometry>
      <sphere radius="0.019"/>
    </geometry>
  </visual>
</link>

<joint name="joint_fixed_branch_23_cylinder_branch_23" type="fixed">
  <origin rpy="0 0 0" xyz="-0.19 0 0"/>
  <parent link="branch_23_cylinder"/>
  <child link="branch_23"/>
</joint>

<!--############################################################################
branch_24
##############################################################################-->
 <link name="branch_24_cylinder">
  <inertial>
    <mass value="1"/>
    <inertia ixx="0.0019749999999999998" ixy="0" ixz="0" iyy="0.0019749999999999998" iyz="0" izz="0.0001"/>
  </inertial>
  <visual>
    <origin rpy="0 1.57 0" xyz="-0.095 0 0"/>
    <geometry>
      <cylinder length="0.15" radius="0.02"/>
    </geometry>
  </visual>
  <collision>
    <origin rpy="0 1.57 0" xyz="-0.095 0 0"/>
    <geometry>
      <cylinder length="0.15" radius="0.02"/>
    </geometry>
  </collision>
 </link>

<joint name="joint_revolute_branch_23_branch_24_cylinder_Z" type="revolute">
  <origin rpy="0 0 0" xyz="0 0 0"/>
  <parent link="branch_23"/>
  <child link="branch_24_cylinder"/>
  <axis xyz="0 1.0 -6.123233995736766e-17"/>
  <dynamics damping="0.01" friction="0.5"/>
  <limit lower="-1.5707963267948966" upper="1.5707963267948966" effort="0.01" velocity="100"/>
</joint>

<link name="branch_24">
  <inertial>
   <mass value="1"/>
   <inertia ixx="0.00014439999999999999" ixy="0" ixz="0" iyy="0.00014439999999999999" iyz="0" izz="0.00014439999999999999"/>
  </inertial>
  <collision>
    <origin rpy="0 0 0" xyz="0 0 0"/>
    <geometry>
      <sphere radius="0.019"/>
    </geometry>
  </collision>
  <visual>
    <origin rpy="0 0 0" xyz="0 0 0"/>
    <geometry>
      <sphere radius="0.019"/>
    </geometry>
  </visual>
</link>

<joint name="joint_fixed_branch_24_cylinder_branch_24" type="fixed">
  <origin rpy="0 0 0" xyz="-0.19 0 0"/>
  <parent link="branch_24_cylinder"/>
  <child link="branch_24"/>
</joint>

<!--############################################################################
branch_25
##############################################################################-->
 <link name="branch_25_cylinder">
  <inertial>
    <mass value="1"/>
    <inertia ixx="0.0019749999999999998" ixy="0" ixz="0" iyy="0.0019749999999999998" iyz="0" izz="0.0001"/>
  </inertial>
  <visual>
    <origin rpy="0 1.57 0" xyz="-0.095 0 0"/>
    <geometry>
      <cylinder length="0.15" radius="0.02"/>
    </geometry>
  </visual>
  <collision>
    <origin rpy="0 1.57 0" xyz="-0.095 0 0"/>
    <geometry>
      <cylinder length="0.15" radius="0.02"/>
    </geometry>
  </collision>
 </link>

<joint name="joint_revolute_branch_24_branch_25_cylinder_Z" type="revolute">
  <origin rpy="0 0 0" xyz="0 0 0"/>
  <parent link="branch_24"/>
  <child link="branch_25_cylinder"/>
  <axis xyz="0 1.0 -6.123233995736766e-17"/>
  <dynamics damping="0.01" friction="0.5"/>
  <limit lower="-1.5707963267948966" upper="1.5707963267948966" effort="0.01" velocity="100"/>
</joint>

<link name="branch_25">
  <inertial>
   <mass value="1"/>
   <inertia ixx="0.00014439999999999999" ixy="0" ixz="0" iyy="0.00014439999999999999" iyz="0" izz="0.00014439999999999999"/>
  </inertial>
  <collision>
    <origin rpy="0 0 0" xyz="0 0 0"/>
    <geometry>
      <sphere radius="0.019"/>
    </geometry>
  </collision>
  <visual>
    <origin rpy="0 0 0" xyz="0 0 0"/>
    <geometry>
      <sphere radius="0.019"/>
    </geometry>
  </visual>
</link>

<joint name="joint_fixed_branch_25_cylinder_branch_25" type="fixed">
  <origin rpy="0 0 0" xyz="-0.19 0 0"/>
  <parent link="branch_25_cylinder"/>
  <child link="branch_25"/>
</joint>

<!--############################################################################
branch_26
##############################################################################-->
 <link name="branch_26_cylinder">
  <inertial>
    <mass value="1"/>
    <inertia ixx="0.0019749999999999998" ixy="0" ixz="0" iyy="0.0019749999999999998" iyz="0" izz="0.0001"/>
  </inertial>
  <visual>
    <origin rpy="0 1.57 0" xyz="-0.095 0 0"/>
    <geometry>
      <cylinder length="0.15" radius="0.02"/>
    </geometry>
  </visual>
  <collision>
    <origin rpy="0 1.57 0" xyz="-0.095 0 0"/>
    <geometry>
      <cylinder length="0.15" radius="0.02"/>
    </geometry>
  </collision>
 </link>

<joint name="joint_revolute_branch_25_branch_26_cylinder_Z" type="revolute">
  <origin rpy="0 0 0" xyz="0 0 0"/>
  <parent link="branch_25"/>
  <child link="branch_26_cylinder"/>
  <axis xyz="0 1.0 -6.123233995736766e-17"/>
  <dynamics damping="0.01" friction="0.5"/>
  <limit lower="-1.5707963267948966" upper="1.5707963267948966" effort="0.01" velocity="100"/>
</joint>

<link name="branch_26">
  <inertial>
   <mass value="1"/>
   <inertia ixx="0.00014439999999999999" ixy="0" ixz="0" iyy="0.00014439999999999999" iyz="0" izz="0.00014439999999999999"/>
  </inertial>
  <collision>
    <origin rpy="0 0 0" xyz="0 0 0"/>
    <geometry>
      <sphere radius="0.019"/>
    </geometry>
  </collision>
  <visual>
    <origin rpy="0 0 0" xyz="0 0 0"/>
    <geometry>
      <sphere radius="0.019"/>
    </geometry>
  </visual>
</link>

<joint name="joint_fixed_branch_26_cylinder_branch_26" type="fixed">
  <origin rpy="0 0 0" xyz="-0.19 0 0"/>
  <parent link="branch_26_cylinder"/>
  <child link="branch_26"/>
</joint>

<!--############################################################################
branch_30
##############################################################################-->
 <link name="branch_30_cylinder_stub">
  <inertial>
    <mass value="1"/>
    <inertia ixx="0.0005687499999999999" ixy="0" ixz="0" iyy="0.0005687499999999999" iyz="0" izz="0.0001"/>
  </inertial>
  <visual>
    <origin rpy="0 1.57 0" xyz="-0.0375 0 0"/>
    <geometry>
      <cylinder length="0.075" radius="0.02"/>
    </geometry>
  </visual>
  <collision>
    <origin rpy="0 1.57 0" xyz="-0.0375 0 0"/>
    <geometry>
      <cylinder length="0.075" radius="0.02"/>
    </geometry>
  </collision>
 </link>

<joint name="joint_fixed_head_branch_30_cylinder_stub" type="fixed">
  <origin rpy="0 0 0" xyz="-0.2 -0.04949747468305832 0.049497474683058325"/>
  <parent link="head"/>
  <child link="branch_30_cylinder_stub"/>
</joint>

<link name="branch_30_sphere_stub">
  <inertial>
   <mass value="1"/>
   <inertia ixx="0.00014439999999999999" ixy="0" ixz="0" iyy="0.00014439999999999999" iyz="0" izz="0.00014439999999999999"/>
  </inertial>
  <collision>
    <origin rpy="0 0 0" xyz="-0.095 0 0"/>
    <geometry>
      <sphere radius="0.019"/>
    </geometry>
  </collision>
  <visual>
    <origin rpy="0 0 0" xyz="-0.095 0 0"/>
    <geometry>
      <sphere radius="0.019"/>
    </geometry>
  </visual>
</link>

<joint name="joint_fixed_branch_30_cylinder_stub_branch_30_sphere_stub" type="fixed">
  <origin rpy="0 0 0" xyz="0 0 0"/>
  <parent link="branch_30_cylinder_stub"/>
  <child link="branch_30_sphere_stub"/>
</joint>

 <link name="branch_30_cylinder">
  <inertial>
    <mass value="1"/>
    <inertia ixx="0.0019749999999999998" ixy="0" ixz="0" iyy="0.0019749999999999998" iyz="0" izz="0.0001"/>
  </inertial>
  <visual>
    <origin rpy="0 -0.7853981633974483 1.57" xyz="-0.095 -0.06717514421272201 0.06717514421272201"/>
    <geometry>
      <cylinder length="0.15" radius="0.02"/>
    </geometry>
  </visual>
  <collision>
    <origin rpy="0 -0.7853981633974483 1.57" xyz="-0.095 -0.06717514421272201 0.06717514421272201"/>
    <geometry>
      <cylinder length="0.15" radius="0.02"/>
    </geometry>
  </collision>
 </link>

<joint name="joint_fixed_branch_30_sphere_stub_branch_30_cylinder" type="fixed">
  <origin rpy="0 0 0" xyz="0 0 0"/>
  <parent link="branch_30_sphere_stub"/>
  <child link="branch_30_cylinder"/>
</joint>

<link name="branch_30">
  <inertial>
   <mass value="1"/>
   <inertia ixx="0.00014439999999999999" ixy="0" ixz="0" iyy="0.00014439999999999999" iyz="0" izz="0.00014439999999999999"/>
  </inertial>
  <collision>
    <origin rpy="0 0 0" xyz="0 0 0"/>
    <geometry>
      <sphere radius="0.019"/>
    </geometry>
  </collision>
  <visual>
    <origin rpy="0 0 0" xyz="0 0 0"/>
    <geometry>
      <sphere radius="0.019"/>
    </geometry>
  </visual>
</link>

<joint name="joint_fixed_branch_30_cylinder_branch_30" type="fixed">
  <origin rpy="0 0 0" xyz="-0.095 -0.13435028842544403 0.13435028842544403"/>
  <parent link="branch_30_cylinder"/>
  <child link="branch_30"/>
</joint>

<!--############################################################################
branch_31
##############################################################################-->
 <link name="branch_31_cylinder">
  <inertial>
    <mass value="1"/>
    <inertia ixx="0.0019749999999999998" ixy="0" ixz="0" iyy="0.0019749999999999998" iyz="0" izz="0.0001"/>
  </inertial>
  <visual>
    <origin rpy="0 1.57 0" xyz="-0.095 0 0"/>
    <geometry>
      <cylinder length="0.15" radius="0.02"/>
    </geometry>
  </visual>
  <collision>
    <origin rpy="0 1.57 0" xyz="-0.095 0 0"/>
    <geometry>
      <cylinder length="0.15" radius="0.02"/>
    </geometry>
  </collision>
 </link>

<joint name="joint_revolute_branch_30_branch_31_cylinder_Z" type="revolute">
  <origin rpy="0 0 0" xyz="0 0 0"/>
  <parent link="branch_30"/>
  <child link="branch_31_cylinder"/>
  <axis xyz="0 0.7071067811865476 0.7071067811865475"/>
  <dynamics damping="0.01" friction="0.5"/>
  <limit lower="-1.5707963267948966" upper="1.5707963267948966" effort="0.01" velocity="100"/>
</joint>

<link name="branch_31">
  <inertial>
   <mass value="1"/>
   <inertia ixx="0.00014439999999999999" ixy="0" ixz="0" iyy="0.00014439999999999999" iyz="0" izz="0.00014439999999999999"/>
  </inertial>
  <collision>
    <origin rpy="0 0 0" xyz="0 0 0"/>
    <geometry>
      <sphere radius="0.019"/>
    </geometry>
  </collision>
  <visual>
    <origin rpy="0 0 0" xyz="0 0 0"/>
    <geometry>
      <sphere radius="0.019"/>
    </geometry>
  </visual>
</link>

<joint name="joint_fixed_branch_31_cylinder_branch_31" type="fixed">
  <origin rpy="0 0 0" xyz="-0.19 0 0"/>
  <parent link="branch_31_cylinder"/>
  <child link="branch_31"/>
</joint>

<!--############################################################################
branch_32
##############################################################################-->
 <link name="branch_32_cylinder">
  <inertial>
    <mass value="1"/>
    <inertia ixx="0.0019749999999999998" ixy="0" ixz="0" iyy="0.0019749999999999998" iyz="0" izz="0.0001"/>
  </inertial>
  <visual>
    <origin rpy="0 1.57 0" xyz="-0.095 0 0"/>
    <geometry>
      <cylinder length="0.15" radius="0.02"/>
    </geometry>
  </visual>
  <collision>
    <origin rpy="0 1.57 0" xyz="-0.095 0 0"/>
    <geometry>
      <cylinder length="0.15" radius="0.02"/>
    </geometry>
  </collision>
 </link>

<joint name="joint_revolute_branch_31_branch_32_cylinder_Z" type="revolute">
  <origin rpy="0 0 0" xyz="0 0 0"/>
  <parent link="branch_31"/>
  <child link="branch_32_cylinder"/>
  <axis xyz="0 0.7071067811865476 0.7071067811865475"/>
  <dynamics damping="0.01" friction="0.5"/>
  <limit lower="-1.5707963267948966" upper="1.5707963267948966" effort="0.01" velocity="100"/>
</joint>

<link name="branch_32">
  <inertial>
   <mass value="1"/>
   <inertia ixx="0.00014439999999999999" ixy="0" ixz="0" iyy="0.00014439999999999999" iyz="0" izz="0.00014439999999999999"/>
  </inertial>
  <collision>
    <origin rpy="0 0 0" xyz="0 0 0"/>
    <geometry>
      <sphere radius="0.019"/>
    </geometry>
  </collision>
  <visual>
    <origin rpy="0 0 0" xyz="0 0 0"/>
    <geometry>
      <sphere radius="0.019"/>
    </geometry>
  </visual>
</link>

<joint name="joint_fixed_branch_32_cylinder_branch_32" type="fixed">
  <origin rpy="0 0 0" xyz="-0.19 0 0"/>
  <parent link="branch_32_cylinder"/>
  <child link="branch_32"/>
</joint>

<!--############################################################################
branch_33
##############################################################################-->
 <link name="branch_33_cylinder">
  <inertial>
    <mass value="1"/>
    <inertia ixx="0.0019749999999999998" ixy="0" ixz="0" iyy="0.0019749999999999998" iyz="0" izz="0.0001"/>
  </inertial>
  <visual>
    <origin rpy="0 1.57 0" xyz="-0.095 0 0"/>
    <geometry>
      <cylinder length="0.15" radius="0.02"/>
    </geometry>
  </visual>
  <collision>
    <origin rpy="0 1.57 0" xyz="-0.095 0 0"/>
    <geometry>
      <cylinder length="0.15" radius="0.02"/>
    </geometry>
  </collision>
 </link>

<joint name="joint_revolute_branch_32_branch_33_cylinder_Z" type="revolute">
  <origin rpy="0 0 0" xyz="0 0 0"/>
  <parent link="branch_32"/>
  <child link="branch_33_cylinder"/>
  <axis xyz="0 0.7071067811865476 0.7071067811865475"/>
  <dynamics damping="0.01" friction="0.5"/>
  <limit lower="-1.5707963267948966" upper="1.5707963267948966" effort="0.01" velocity="100"/>
</joint>

<link name="branch_33">
  <inertial>
   <mass value="1"/>
   <inertia ixx="0.00014439999999999999" ixy="0" ixz="0" iyy="0.00014439999999999999" iyz="0" izz="0.00014439999999999999"/>
  </inertial>
  <collision>
    <origin rpy="0 0 0" xyz="0 0 0"/>
    <geometry>
      <sphere radius="0.019"/>
    </geometry>
  </collision>
  <visual>
    <origin rpy="0 0 0" xyz="0 0 0"/>
    <geometry>
      <sphere radius="0.019"/>
    </geometry>
  </visual>
</link>

<joint name="joint_fixed_branch_33_cylinder_branch_33" type="fixed">
  <origin rpy="0 0 0" xyz="-0.19 0 0"/>
  <parent link="branch_33_cylinder"/>
  <child link="branch_33"/>
</joint>

<!--############################################################################
branch_34
##############################################################################-->
 <link name="branch_34_cylinder">
  <inertial>
    <mass value="1"/>
    <inertia ixx="0.0019749999999999998" ixy="0" ixz="0" iyy="0.0019749999999999998" iyz="0" izz="0.0001"/>
  </inertial>
  <visual>
    <origin rpy="0 1.57 0" xyz="-0.095 0 0"/>
    <geometry>
      <cylinder length="0.15" radius="0.02"/>
    </geometry>
  </visual>
  <collision>
    <origin rpy="0 1.57 0" xyz="-0.095 0 0"/>
    <geometry>
      <cylinder length="0.15" radius="0.02"/>
    </geometry>
  </collision>
 </link>

<joint name="joint_revolute_branch_33_branch_34_cylinder_Z" type="revolute">
  <origin rpy="0 0 0" xyz="0 0 0"/>
  <parent link="branch_33"/>
  <child link="branch_34_cylinder"/>
  <axis xyz="0 0.7071067811865476 0.7071067811865475"/>
  <dynamics damping="0.01" friction="0.5"/>
  <limit lower="-1.5707963267948966" upper="1.5707963267948966" effort="0.01" velocity="100"/>
</joint>

<link name="branch_34">
  <inertial>
   <mass value="1"/>
   <inertia ixx="0.00014439999999999999" ixy="0" ixz="0" iyy="0.00014439999999999999" iyz="0" izz="0.00014439999999999999"/>
  </inertial>
  <collision>
    <origin rpy="0 0 0" xyz="0 0 0"/>
    <geometry>
      <sphere radius="0.019"/>
    </geometry>
  </collision>
  <visual>
    <origin rpy="0 0 0" xyz="0 0 0"/>
    <geometry>
      <sphere radius="0.019"/>
    </geometry>
  </visual>
</link>

<joint name="joint_fixed_branch_34_cylinder_branch_34" type="fixed">
  <origin rpy="0 0 0" xyz="-0.19 0 0"/>
  <parent link="branch_34_cylinder"/>
  <child link="branch_34"/>
</joint>

<!--############################################################################
branch_35
##############################################################################-->
 <link name="branch_35_cylinder">
  <inertial>
    <mass value="1"/>
    <inertia ixx="0.0019749999999999998" ixy="0" ixz="0" iyy="0.0019749999999999998" iyz="0" izz="0.0001"/>
  </inertial>
  <visual>
    <origin rpy="0 1.57 0" xyz="-0.095 0 0"/>
    <geometry>
      <cylinder length="0.15" radius="0.02"/>
    </geometry>
  </visual>
  <collision>
    <origin rpy="0 1.57 0" xyz="-0.095 0 0"/>
    <geometry>
      <cylinder length="0.15" radius="0.02"/>
    </geometry>
  </collision>
 </link>

<joint name="joint_revolute_branch_34_branch_35_cylinder_Z" type="revolute">
  <origin rpy="0 0 0" xyz="0 0 0"/>
  <parent link="branch_34"/>
  <child link="branch_35_cylinder"/>
  <axis xyz="0 0.7071067811865476 0.7071067811865475"/>
  <dynamics damping="0.01" friction="0.5"/>
  <limit lower="-1.5707963267948966" upper="1.5707963267948966" effort="0.01" velocity="100"/>
</joint>

<link name="branch_35">
  <inertial>
   <mass value="1"/>
   <inertia ixx="0.00014439999999999999" ixy="0" ixz="0" iyy="0.00014439999999999999" iyz="0" izz="0.00014439999999999999"/>
  </inertial>
  <collision>
    <origin rpy="0 0 0" xyz="0 0 0"/>
    <geometry>
      <sphere radius="0.019"/>
    </geometry>
  </collision>
  <visual>
    <origin rpy="0 0 0" xyz="0 0 0"/>
    <geometry>
      <sphere radius="0.019"/>
    </geometry>
  </visual>
</link>

<joint name="joint_fixed_branch_35_cylinder_branch_35" type="fixed">
  <origin rpy="0 0 0" xyz="-0.19 0 0"/>
  <parent link="branch_35_cylinder"/>
  <child link="branch_35"/>
</joint>

<!--############################################################################
branch_36
##############################################################################-->
 <link name="branch_36_cylinder">
  <inertial>
    <mass value="1"/>
    <inertia ixx="0.0019749999999999998" ixy="0" ixz="0" iyy="0.0019749999999999998" iyz="0" izz="0.0001"/>
  </inertial>
  <visual>
    <origin rpy="0 1.57 0" xyz="-0.095 0 0"/>
    <geometry>
      <cylinder length="0.15" radius="0.02"/>
    </geometry>
  </visual>
  <collision>
    <origin rpy="0 1.57 0" xyz="-0.095 0 0"/>
    <geometry>
      <cylinder length="0.15" radius="0.02"/>
    </geometry>
  </collision>
 </link>

<joint name="joint_revolute_branch_35_branch_36_cylinder_Z" type="revolute">
  <origin rpy="0 0 0" xyz="0 0 0"/>
  <parent link="branch_35"/>
  <child link="branch_36_cylinder"/>
  <axis xyz="0 0.7071067811865476 0.7071067811865475"/>
  <dynamics damping="0.01" friction="0.5"/>
  <limit lower="-1.5707963267948966" upper="1.5707963267948966" effort="0.01" velocity="100"/>
</joint>

<link name="branch_36">
  <inertial>
   <mass value="1"/>
   <inertia ixx="0.00014439999999999999" ixy="0" ixz="0" iyy="0.00014439999999999999" iyz="0" izz="0.00014439999999999999"/>
  </inertial>
  <collision>
    <origin rpy="0 0 0" xyz="0 0 0"/>
    <geometry>
      <sphere radius="0.019"/>
    </geometry>
  </collision>
  <visual>
    <origin rpy="0 0 0" xyz="0 0 0"/>
    <geometry>
      <sphere radius="0.019"/>
    </geometry>
  </visual>
</link>

<joint name="joint_fixed_branch_36_cylinder_branch_36" type="fixed">
  <origin rpy="0 0 0" xyz="-0.19 0 0"/>
  <parent link="branch_36_cylinder"/>
  <child link="branch_36"/>
</joint>

<!--############################################################################
branch_40
##############################################################################-->
 <link name="branch_40_cylinder_stub">
  <inertial>
    <mass value="1"/>
    <inertia ixx="0.0005687499999999999" ixy="0" ixz="0" iyy="0.0005687499999999999" iyz="0" izz="0.0001"/>
  </inertial>
  <visual>
    <origin rpy="0 1.57 0" xyz="-0.0375 0 0"/>
    <geometry>
      <cylinder length="0.075" radius="0.02"/>
    </geometry>
  </visual>
  <collision>
    <origin rpy="0 1.57 0" xyz="-0.0375 0 0"/>
    <geometry>
      <cylinder length="0.075" radius="0.02"/>
    </geometry>
  </collision>
 </link>

<joint name="joint_fixed_head_branch_40_cylinder_stub" type="fixed">
  <origin rpy="0 0 0" xyz="-0.2 -0.06999999999999999 8.572527594031472e-18"/>
  <parent link="head"/>
  <child link="branch_40_cylinder_stub"/>
</joint>

<link name="branch_40_sphere_stub">
  <inertial>
   <mass value="1"/>
   <inertia ixx="0.00014439999999999999" ixy="0" ixz="0" iyy="0.00014439999999999999" iyz="0" izz="0.00014439999999999999"/>
  </inertial>
  <collision>
    <origin rpy="0 0 0" xyz="-0.095 0 0"/>
    <geometry>
      <sphere radius="0.019"/>
    </geometry>
  </collision>
  <visual>
    <origin rpy="0 0 0" xyz="-0.095 0 0"/>
    <geometry>
      <sphere radius="0.019"/>
    </geometry>
  </visual>
</link>

<joint name="joint_fixed_branch_40_cylinder_stub_branch_40_sphere_stub" type="fixed">
  <origin rpy="0 0 0" xyz="0 0 0"/>
  <parent link="branch_40_cylinder_stub"/>
  <child link="branch_40_sphere_stub"/>
</joint>

 <link name="branch_40_cylinder">
  <inertial>
    <mass value="1"/>
    <inertia ixx="0.0019749999999999998" ixy="0" ixz="0" iyy="0.0019749999999999998" iyz="0" izz="0.0001"/>
  </inertial>
  <visual>
    <origin rpy="0 -1.5707963267948966 1.57" xyz="-0.095 -0.095 1.1634144591899856e-17"/>
    <geometry>
      <cylinder length="0.15" radius="0.02"/>
    </geometry>
  </visual>
  <collision>
    <origin rpy="0 -1.5707963267948966 1.57" xyz="-0.095 -0.095 1.1634144591899856e-17"/>
    <geometry>
      <cylinder length="0.15" radius="0.02"/>
    </geometry>
  </collision>
 </link>

<joint name="joint_fixed_branch_40_sphere_stub_branch_40_cylinder" type="fixed">
  <origin rpy="0 0 0" xyz="0 0 0"/>
  <parent link="branch_40_sphere_stub"/>
  <child link="branch_40_cylinder"/>
</joint>

<link name="branch_40">
  <inertial>
   <mass value="1"/>
   <inertia ixx="0.00014439999999999999" ixy="0" ixz="0" iyy="0.00014439999999999999" iyz="0" izz="0.00014439999999999999"/>
  </inertial>
  <collision>
    <origin rpy="0 0 0" xyz="0 0 0"/>
    <geometry>
      <sphere radius="0.019"/>
    </geometry>
  </collision>
  <visual>
    <origin rpy="0 0 0" xyz="0 0 0"/>
    <geometry>
      <sphere radius="0.019"/>
    </geometry>
  </visual>
</link>

<joint name="joint_fixed_branch_40_cylinder_branch_40" type="fixed">
  <origin rpy="0 0 0" xyz="-0.095 -0.19 2.3268289183799712e-17"/>
  <parent link="branch_40_cylinder"/>
  <child link="branch_40"/>
</joint>

<!--############################################################################
branch_41
##############################################################################-->
 <link name="branch_41_cylinder">
  <inertial>
    <mass value="1"/>
    <inertia ixx="0.0019749999999999998" ixy="0" ixz="0" iyy="0.0019749999999999998" iyz="0" izz="0.0001"/>
  </inertial>
  <visual>
    <origin rpy="0 1.57 0" xyz="-0.095 0 0"/>
    <geometry>
      <cylinder length="0.15" radius="0.02"/>
    </geometry>
  </visual>
  <collision>
    <origin rpy="0 1.57 0" xyz="-0.095 0 0"/>
    <geometry>
      <cylinder length="0.15" radius="0.02"/>
    </geometry>
  </collision>
 </link>

<joint name="joint_revolute_branch_40_branch_41_cylinder_Z" type="revolute">
  <origin rpy="0 0 0" xyz="0 0 0"/>
  <parent link="branch_40"/>
  <child link="branch_41_cylinder"/>
  <axis xyz="0 1.2246467991473532e-16 1.0"/>
  <dynamics damping="0.01" friction="0.5"/>
  <limit lower="-1.5707963267948966" upper="1.5707963267948966" effort="0.01" velocity="100"/>
</joint>

<link name="branch_41">
  <inertial>
   <mass value="1"/>
   <inertia ixx="0.00014439999999999999" ixy="0" ixz="0" iyy="0.00014439999999999999" iyz="0" izz="0.00014439999999999999"/>
  </inertial>
  <collision>
    <origin rpy="0 0 0" xyz="0 0 0"/>
    <geometry>
      <sphere radius="0.019"/>
    </geometry>
  </collision>
  <visual>
    <origin rpy="0 0 0" xyz="0 0 0"/>
    <geometry>
      <sphere radius="0.019"/>
    </geometry>
  </visual>
</link>

<joint name="joint_fixed_branch_41_cylinder_branch_41" type="fixed">
  <origin rpy="0 0 0" xyz="-0.19 0 0"/>
  <parent link="branch_41_cylinder"/>
  <child link="branch_41"/>
</joint>

<!--############################################################################
branch_42
##############################################################################-->
 <link name="branch_42_cylinder">
  <inertial>
    <mass value="1"/>
    <inertia ixx="0.0019749999999999998" ixy="0" ixz="0" iyy="0.0019749999999999998" iyz="0" izz="0.0001"/>
  </inertial>
  <visual>
    <origin rpy="0 1.57 0" xyz="-0.095 0 0"/>
    <geometry>
      <cylinder length="0.15" radius="0.02"/>
    </geometry>
  </visual>
  <collision>
    <origin rpy="0 1.57 0" xyz="-0.095 0 0"/>
    <geometry>
      <cylinder length="0.15" radius="0.02"/>
    </geometry>
  </collision>
 </link>

<joint name="joint_revolute_branch_41_branch_42_cylinder_Z" type="revolute">
  <origin rpy="0 0 0" xyz="0 0 0"/>
  <parent link="branch_41"/>
  <child link="branch_42_cylinder"/>
  <axis xyz="0 1.2246467991473532e-16 1.0"/>
  <dynamics damping="0.01" friction="0.5"/>
  <limit lower="-1.5707963267948966" upper="1.5707963267948966" effort="0.01" velocity="100"/>
</joint>

<link name="branch_42">
  <inertial>
   <mass value="1"/>
   <inertia ixx="0.00014439999999999999" ixy="0" ixz="0" iyy="0.00014439999999999999" iyz="0" izz="0.00014439999999999999"/>
  </inertial>
  <collision>
    <origin rpy="0 0 0" xyz="0 0 0"/>
    <geometry>
      <sphere radius="0.019"/>
    </geometry>
  </collision>
  <visual>
    <origin rpy="0 0 0" xyz="0 0 0"/>
    <geometry>
      <sphere radius="0.019"/>
    </geometry>
  </visual>
</link>

<joint name="joint_fixed_branch_42_cylinder_branch_42" type="fixed">
  <origin rpy="0 0 0" xyz="-0.19 0 0"/>
  <parent link="branch_42_cylinder"/>
  <child link="branch_42"/>
</joint>

<!--############################################################################
branch_43
##############################################################################-->
 <link name="branch_43_cylinder">
  <inertial>
    <mass value="1"/>
    <inertia ixx="0.0019749999999999998" ixy="0" ixz="0" iyy="0.0019749999999999998" iyz="0" izz="0.0001"/>
  </inertial>
  <visual>
    <origin rpy="0 1.57 0" xyz="-0.095 0 0"/>
    <geometry>
      <cylinder length="0.15" radius="0.02"/>
    </geometry>
  </visual>
  <collision>
    <origin rpy="0 1.57 0" xyz="-0.095 0 0"/>
    <geometry>
      <cylinder length="0.15" radius="0.02"/>
    </geometry>
  </collision>
 </link>

<joint name="joint_revolute_branch_42_branch_43_cylinder_Z" type="revolute">
  <origin rpy="0 0 0" xyz="0 0 0"/>
  <parent link="branch_42"/>
  <child link="branch_43_cylinder"/>
  <axis xyz="0 1.2246467991473532e-16 1.0"/>
  <dynamics damping="0.01" friction="0.5"/>
  <limit lower="-1.5707963267948966" upper="1.5707963267948966" effort="0.01" velocity="100"/>
</joint>

<link name="branch_43">
  <inertial>
   <mass value="1"/>
   <inertia ixx="0.00014439999999999999" ixy="0" ixz="0" iyy="0.00014439999999999999" iyz="0" izz="0.00014439999999999999"/>
  </inertial>
  <collision>
    <origin rpy="0 0 0" xyz="0 0 0"/>
    <geometry>
      <sphere radius="0.019"/>
    </geometry>
  </collision>
  <visual>
    <origin rpy="0 0 0" xyz="0 0 0"/>
    <geometry>
      <sphere radius="0.019"/>
    </geometry>
  </visual>
</link>

<joint name="joint_fixed_branch_43_cylinder_branch_43" type="fixed">
  <origin rpy="0 0 0" xyz="-0.19 0 0"/>
  <parent link="branch_43_cylinder"/>
  <child link="branch_43"/>
</joint>

<!--############################################################################
branch_44
##############################################################################-->
 <link name="branch_44_cylinder">
  <inertial>
    <mass value="1"/>
    <inertia ixx="0.0019749999999999998" ixy="0" ixz="0" iyy="0.0019749999999999998" iyz="0" izz="0.0001"/>
  </inertial>
  <visual>
    <origin rpy="0 1.57 0" xyz="-0.095 0 0"/>
    <geometry>
      <cylinder length="0.15" radius="0.02"/>
    </geometry>
  </visual>
  <collision>
    <origin rpy="0 1.57 0" xyz="-0.095 0 0"/>
    <geometry>
      <cylinder length="0.15" radius="0.02"/>
    </geometry>
  </collision>
 </link>

<joint name="joint_revolute_branch_43_branch_44_cylinder_Z" type="revolute">
  <origin rpy="0 0 0" xyz="0 0 0"/>
  <parent link="branch_43"/>
  <child link="branch_44_cylinder"/>
  <axis xyz="0 1.2246467991473532e-16 1.0"/>
  <dynamics damping="0.01" friction="0.5"/>
  <limit lower="-1.5707963267948966" upper="1.5707963267948966" effort="0.01" velocity="100"/>
</joint>

<link name="branch_44">
  <inertial>
   <mass value="1"/>
   <inertia ixx="0.00014439999999999999" ixy="0" ixz="0" iyy="0.00014439999999999999" iyz="0" izz="0.00014439999999999999"/>
  </inertial>
  <collision>
    <origin rpy="0 0 0" xyz="0 0 0"/>
    <geometry>
      <sphere radius="0.019"/>
    </geometry>
  </collision>
  <visual>
    <origin rpy="0 0 0" xyz="0 0 0"/>
    <geometry>
      <sphere radius="0.019"/>
    </geometry>
  </visual>
</link>

<joint name="joint_fixed_branch_44_cylinder_branch_44" type="fixed">
  <origin rpy="0 0 0" xyz="-0.19 0 0"/>
  <parent link="branch_44_cylinder"/>
  <child link="branch_44"/>
</joint>

<!--############################################################################
branch_45
##############################################################################-->
 <link name="branch_45_cylinder">
  <inertial>
    <mass value="1"/>
    <inertia ixx="0.0019749999999999998" ixy="0" ixz="0" iyy="0.0019749999999999998" iyz="0" izz="0.0001"/>
  </inertial>
  <visual>
    <origin rpy="0 1.57 0" xyz="-0.095 0 0"/>
    <geometry>
      <cylinder length="0.15" radius="0.02"/>
    </geometry>
  </visual>
  <collision>
    <origin rpy="0 1.57 0" xyz="-0.095 0 0"/>
    <geometry>
      <cylinder length="0.15" radius="0.02"/>
    </geometry>
  </collision>
 </link>

<joint name="joint_revolute_branch_44_branch_45_cylinder_Z" type="revolute">
  <origin rpy="0 0 0" xyz="0 0 0"/>
  <parent link="branch_44"/>
  <child link="branch_45_cylinder"/>
  <axis xyz="0 1.2246467991473532e-16 1.0"/>
  <dynamics damping="0.01" friction="0.5"/>
  <limit lower="-1.5707963267948966" upper="1.5707963267948966" effort="0.01" velocity="100"/>
</joint>

<link name="branch_45">
  <inertial>
   <mass value="1"/>
   <inertia ixx="0.00014439999999999999" ixy="0" ixz="0" iyy="0.00014439999999999999" iyz="0" izz="0.00014439999999999999"/>
  </inertial>
  <collision>
    <origin rpy="0 0 0" xyz="0 0 0"/>
    <geometry>
      <sphere radius="0.019"/>
    </geometry>
  </collision>
  <visual>
    <origin rpy="0 0 0" xyz="0 0 0"/>
    <geometry>
      <sphere radius="0.019"/>
    </geometry>
  </visual>
</link>

<joint name="joint_fixed_branch_45_cylinder_branch_45" type="fixed">
  <origin rpy="0 0 0" xyz="-0.19 0 0"/>
  <parent link="branch_45_cylinder"/>
  <child link="branch_45"/>
</joint>

<!--############################################################################
branch_46
##############################################################################-->
 <link name="branch_46_cylinder">
  <inertial>
    <mass value="1"/>
    <inertia ixx="0.0019749999999999998" ixy="0" ixz="0" iyy="0.0019749999999999998" iyz="0" izz="0.0001"/>
  </inertial>
  <visual>
    <origin rpy="0 1.57 0" xyz="-0.095 0 0"/>
    <geometry>
      <cylinder length="0.15" radius="0.02"/>
    </geometry>
  </visual>
  <collision>
    <origin rpy="0 1.57 0" xyz="-0.095 0 0"/>
    <geometry>
      <cylinder length="0.15" radius="0.02"/>
    </geometry>
  </collision>
 </link>

<joint name="joint_revolute_branch_45_branch_46_cylinder_Z" type="revolute">
  <origin rpy="0 0 0" xyz="0 0 0"/>
  <parent link="branch_45"/>
  <child link="branch_46_cylinder"/>
  <axis xyz="0 1.2246467991473532e-16 1.0"/>
  <dynamics damping="0.01" friction="0.5"/>
  <limit lower="-1.5707963267948966" upper="1.5707963267948966" effort="0.01" velocity="100"/>
</joint>

<link name="branch_46">
  <inertial>
   <mass value="1"/>
   <inertia ixx="0.00014439999999999999" ixy="0" ixz="0" iyy="0.00014439999999999999" iyz="0" izz="0.00014439999999999999"/>
  </inertial>
  <collision>
    <origin rpy="0 0 0" xyz="0 0 0"/>
    <geometry>
      <sphere radius="0.019"/>
    </geometry>
  </collision>
  <visual>
    <origin rpy="0 0 0" xyz="0 0 0"/>
    <geometry>
      <sphere radius="0.019"/>
    </geometry>
  </visual>
</link>

<joint name="joint_fixed_branch_46_cylinder_branch_46" type="fixed">
  <origin rpy="0 0 0" xyz="-0.19 0 0"/>
  <parent link="branch_46_cylinder"/>
  <child link="branch_46"/>
</joint>

<!--############################################################################
branch_50
##############################################################################-->
 <link name="branch_50_cylinder_stub">
  <inertial>
    <mass value="1"/>
    <inertia ixx="0.0005687499999999999" ixy="0" ixz="0" iyy="0.0005687499999999999" iyz="0" izz="0.0001"/>
  </inertial>
  <visual>
    <origin rpy="0 1.57 0" xyz="-0.0375 0 0"/>
    <geometry>
      <cylinder length="0.075" radius="0.02"/>
    </geometry>
  </visual>
  <collision>
    <origin rpy="0 1.57 0" xyz="-0.0375 0 0"/>
    <geometry>
      <cylinder length="0.075" radius="0.02"/>
    </geometry>
  </collision>
 </link>

<joint name="joint_fixed_head_branch_50_cylinder_stub" type="fixed">
  <origin rpy="0 0 0" xyz="-0.2 -0.04949747468305833 -0.04949747468305832"/>
  <parent link="head"/>
  <child link="branch_50_cylinder_stub"/>
</joint>

<link name="branch_50_sphere_stub">
  <inertial>
   <mass value="1"/>
   <inertia ixx="0.00014439999999999999" ixy="0" ixz="0" iyy="0.00014439999999999999" iyz="0" izz="0.00014439999999999999"/>
  </inertial>
  <collision>
    <origin rpy="0 0 0" xyz="-0.095 0 0"/>
    <geometry>
      <sphere radius="0.019"/>
    </geometry>
  </collision>
  <visual>
    <origin rpy="0 0 0" xyz="-0.095 0 0"/>
    <geometry>
      <sphere radius="0.019"/>
    </geometry>
  </visual>
</link>

<joint name="joint_fixed_branch_50_cylinder_stub_branch_50_sphere_stub" type="fixed">
  <origin rpy="0 0 0" xyz="0 0 0"/>
  <parent link="branch_50_cylinder_stub"/>
  <child link="branch_50_sphere_stub"/>
</joint>

 <link name="branch_50_cylinder">
  <inertial>
    <mass value="1"/>
    <inertia ixx="0.0019749999999999998" ixy="0" ixz="0" iyy="0.0019749999999999998" iyz="0" izz="0.0001"/>
  </inertial>
  <visual>
    <origin rpy="0 -2.356194490192345 1.57" xyz="-0.095 -0.06717514421272203 -0.06717514421272201"/>
    <geometry>
      <cylinder length="0.15" radius="0.02"/>
    </geometry>
  </visual>
  <collision>
    <origin rpy="0 -2.356194490192345 1.57" xyz="-0.095 -0.06717514421272203 -0.06717514421272201"/>
    <geometry>
      <cylinder length="0.15" radius="0.02"/>
    </geometry>
  </collision>
 </link>

<joint name="joint_fixed_branch_50_sphere_stub_branch_50_cylinder" type="fixed">
  <origin rpy="0 0 0" xyz="0 0 0"/>
  <parent link="branch_50_sphere_stub"/>
  <child link="branch_50_cylinder"/>
</joint>

<link name="branch_50">
  <inertial>
   <mass value="1"/>
   <inertia ixx="0.00014439999999999999" ixy="0" ixz="0" iyy="0.00014439999999999999" iyz="0" izz="0.00014439999999999999"/>
  </inertial>
  <collision>
    <origin rpy="0 0 0" xyz="0 0 0"/>
    <geometry>
      <sphere radius="0.019"/>
    </geometry>
  </collision>
  <visual>
    <origin rpy="0 0 0" xyz="0 0 0"/>
    <geometry>
      <sphere radius="0.019"/>
    </geometry>
  </visual>
</link>

<joint name="joint_fixed_branch_50_cylinder_branch_50" type="fixed">
  <origin rpy="0 0 0" xyz="-0.095 -0.13435028842544405 -0.13435028842544403"/>
  <parent link="branch_50_cylinder"/>
  <child link="branch_50"/>
</joint>

<!--############################################################################
branch_51
##############################################################################-->
 <link name="branch_51_cylinder">
  <inertial>
    <mass value="1"/>
    <inertia ixx="0.0019749999999999998" ixy="0" ixz="0" iyy="0.0019749999999999998" iyz="0" izz="0.0001"/>
  </inertial>
  <visual>
    <origin rpy="0 1.57 0" xyz="-0.095 0 0"/>
    <geometry>
      <cylinder length="0.15" radius="0.02"/>
    </geometry>
  </visual>
  <collision>
    <origin rpy="0 1.57 0" xyz="-0.095 0 0"/>
    <geometry>
      <cylinder length="0.15" radius="0.02"/>
    </geometry>
  </collision>
 </link>

<joint name="joint_revolute_branch_50_branch_51_cylinder_Z" type="revolute">
  <origin rpy="0 0 0" xyz="0 0 0"/>
  <parent link="branch_50"/>
  <child link="branch_51_cylinder"/>
  <axis xyz="0 -0.7071067811865475 0.7071067811865477"/>
  <dynamics damping="0.01" friction="0.5"/>
  <limit lower="-1.5707963267948966" upper="1.5707963267948966" effort="0.01" velocity="100"/>
</joint>

<link name="branch_51">
  <inertial>
   <mass value="1"/>
   <inertia ixx="0.00014439999999999999" ixy="0" ixz="0" iyy="0.00014439999999999999" iyz="0" izz="0.00014439999999999999"/>
  </inertial>
  <collision>
    <origin rpy="0 0 0" xyz="0 0 0"/>
    <geometry>
      <sphere radius="0.019"/>
    </geometry>
  </collision>
  <visual>
    <origin rpy="0 0 0" xyz="0 0 0"/>
    <geometry>
      <sphere radius="0.019"/>
    </geometry>
  </visual>
</link>

<joint name="joint_fixed_branch_51_cylinder_branch_51" type="fixed">
  <origin rpy="0 0 0" xyz="-0.19 0 0"/>
  <parent link="branch_51_cylinder"/>
  <child link="branch_51"/>
</joint>

<!--############################################################################
branch_52
##############################################################################-->
 <link name="branch_52_cylinder">
  <inertial>
    <mass value="1"/>
    <inertia ixx="0.0019749999999999998" ixy="0" ixz="0" iyy="0.0019749999999999998" iyz="0" izz="0.0001"/>
  </inertial>
  <visual>
    <origin rpy="0 1.57 0" xyz="-0.095 0 0"/>
    <geometry>
      <cylinder length="0.15" radius="0.02"/>
    </geometry>
  </visual>
  <collision>
    <origin rpy="0 1.57 0" xyz="-0.095 0 0"/>
    <geometry>
      <cylinder length="0.15" radius="0.02"/>
    </geometry>
  </collision>
 </link>

<joint name="joint_revolute_branch_51_branch_52_cylinder_Z" type="revolute">
  <origin rpy="0 0 0" xyz="0 0 0"/>
  <parent link="branch_51"/>
  <child link="branch_52_cylinder"/>
  <axis xyz="0 -0.7071067811865475 0.7071067811865477"/>
  <dynamics damping="0.01" friction="0.5"/>
  <limit lower="-1.5707963267948966" upper="1.5707963267948966" effort="0.01" velocity="100"/>
</joint>

<link name="branch_52">
  <inertial>
   <mass value="1"/>
   <inertia ixx="0.00014439999999999999" ixy="0" ixz="0" iyy="0.00014439999999999999" iyz="0" izz="0.00014439999999999999"/>
  </inertial>
  <collision>
    <origin rpy="0 0 0" xyz="0 0 0"/>
    <geometry>
      <sphere radius="0.019"/>
    </geometry>
  </collision>
  <visual>
    <origin rpy="0 0 0" xyz="0 0 0"/>
    <geometry>
      <sphere radius="0.019"/>
    </geometry>
  </visual>
</link>

<joint name="joint_fixed_branch_52_cylinder_branch_52" type="fixed">
  <origin rpy="0 0 0" xyz="-0.19 0 0"/>
  <parent link="branch_52_cylinder"/>
  <child link="branch_52"/>
</joint>

<!--############################################################################
branch_53
##############################################################################-->
 <link name="branch_53_cylinder">
  <inertial>
    <mass value="1"/>
    <inertia ixx="0.0019749999999999998" ixy="0" ixz="0" iyy="0.0019749999999999998" iyz="0" izz="0.0001"/>
  </inertial>
  <visual>
    <origin rpy="0 1.57 0" xyz="-0.095 0 0"/>
    <geometry>
      <cylinder length="0.15" radius="0.02"/>
    </geometry>
  </visual>
  <collision>
    <origin rpy="0 1.57 0" xyz="-0.095 0 0"/>
    <geometry>
      <cylinder length="0.15" radius="0.02"/>
    </geometry>
  </collision>
 </link>

<joint name="joint_revolute_branch_52_branch_53_cylinder_Z" type="revolute">
  <origin rpy="0 0 0" xyz="0 0 0"/>
  <parent link="branch_52"/>
  <child link="branch_53_cylinder"/>
  <axis xyz="0 -0.7071067811865475 0.7071067811865477"/>
  <dynamics damping="0.01" friction="0.5"/>
  <limit lower="-1.5707963267948966" upper="1.5707963267948966" effort="0.01" velocity="100"/>
</joint>

<link name="branch_53">
  <inertial>
   <mass value="1"/>
   <inertia ixx="0.00014439999999999999" ixy="0" ixz="0" iyy="0.00014439999999999999" iyz="0" izz="0.00014439999999999999"/>
  </inertial>
  <collision>
    <origin rpy="0 0 0" xyz="0 0 0"/>
    <geometry>
      <sphere radius="0.019"/>
    </geometry>
  </collision>
  <visual>
    <origin rpy="0 0 0" xyz="0 0 0"/>
    <geometry>
      <sphere radius="0.019"/>
    </geometry>
  </visual>
</link>

<joint name="joint_fixed_branch_53_cylinder_branch_53" type="fixed">
  <origin rpy="0 0 0" xyz="-0.19 0 0"/>
  <parent link="branch_53_cylinder"/>
  <child link="branch_53"/>
</joint>

<!--############################################################################
branch_54
##############################################################################-->
 <link name="branch_54_cylinder">
  <inertial>
    <mass value="1"/>
    <inertia ixx="0.0019749999999999998" ixy="0" ixz="0" iyy="0.0019749999999999998" iyz="0" izz="0.0001"/>
  </inertial>
  <visual>
    <origin rpy="0 1.57 0" xyz="-0.095 0 0"/>
    <geometry>
      <cylinder length="0.15" radius="0.02"/>
    </geometry>
  </visual>
  <collision>
    <origin rpy="0 1.57 0" xyz="-0.095 0 0"/>
    <geometry>
      <cylinder length="0.15" radius="0.02"/>
    </geometry>
  </collision>
 </link>

<joint name="joint_revolute_branch_53_branch_54_cylinder_Z" type="revolute">
  <origin rpy="0 0 0" xyz="0 0 0"/>
  <parent link="branch_53"/>
  <child link="branch_54_cylinder"/>
  <axis xyz="0 -0.7071067811865475 0.7071067811865477"/>
  <dynamics damping="0.01" friction="0.5"/>
  <limit lower="-1.5707963267948966" upper="1.5707963267948966" effort="0.01" velocity="100"/>
</joint>

<link name="branch_54">
  <inertial>
   <mass value="1"/>
   <inertia ixx="0.00014439999999999999" ixy="0" ixz="0" iyy="0.00014439999999999999" iyz="0" izz="0.00014439999999999999"/>
  </inertial>
  <collision>
    <origin rpy="0 0 0" xyz="0 0 0"/>
    <geometry>
      <sphere radius="0.019"/>
    </geometry>
  </collision>
  <visual>
    <origin rpy="0 0 0" xyz="0 0 0"/>
    <geometry>
      <sphere radius="0.019"/>
    </geometry>
  </visual>
</link>

<joint name="joint_fixed_branch_54_cylinder_branch_54" type="fixed">
  <origin rpy="0 0 0" xyz="-0.19 0 0"/>
  <parent link="branch_54_cylinder"/>
  <child link="branch_54"/>
</joint>

<!--############################################################################
branch_55
##############################################################################-->
 <link name="branch_55_cylinder">
  <inertial>
    <mass value="1"/>
    <inertia ixx="0.0019749999999999998" ixy="0" ixz="0" iyy="0.0019749999999999998" iyz="0" izz="0.0001"/>
  </inertial>
  <visual>
    <origin rpy="0 1.57 0" xyz="-0.095 0 0"/>
    <geometry>
      <cylinder length="0.15" radius="0.02"/>
    </geometry>
  </visual>
  <collision>
    <origin rpy="0 1.57 0" xyz="-0.095 0 0"/>
    <geometry>
      <cylinder length="0.15" radius="0.02"/>
    </geometry>
  </collision>
 </link>

<joint name="joint_revolute_branch_54_branch_55_cylinder_Z" type="revolute">
  <origin rpy="0 0 0" xyz="0 0 0"/>
  <parent link="branch_54"/>
  <child link="branch_55_cylinder"/>
  <axis xyz="0 -0.7071067811865475 0.7071067811865477"/>
  <dynamics damping="0.01" friction="0.5"/>
  <limit lower="-1.5707963267948966" upper="1.5707963267948966" effort="0.01" velocity="100"/>
</joint>

<link name="branch_55">
  <inertial>
   <mass value="1"/>
   <inertia ixx="0.00014439999999999999" ixy="0" ixz="0" iyy="0.00014439999999999999" iyz="0" izz="0.00014439999999999999"/>
  </inertial>
  <collision>
    <origin rpy="0 0 0" xyz="0 0 0"/>
    <geometry>
      <sphere radius="0.019"/>
    </geometry>
  </collision>
  <visual>
    <origin rpy="0 0 0" xyz="0 0 0"/>
    <geometry>
      <sphere radius="0.019"/>
    </geometry>
  </visual>
</link>

<joint name="joint_fixed_branch_55_cylinder_branch_55" type="fixed">
  <origin rpy="0 0 0" xyz="-0.19 0 0"/>
  <parent link="branch_55_cylinder"/>
  <child link="branch_55"/>
</joint>

<!--############################################################################
branch_56
##############################################################################-->
 <link name="branch_56_cylinder">
  <inertial>
    <mass value="1"/>
    <inertia ixx="0.0019749999999999998" ixy="0" ixz="0" iyy="0.0019749999999999998" iyz="0" izz="0.0001"/>
  </inertial>
  <visual>
    <origin rpy="0 1.57 0" xyz="-0.095 0 0"/>
    <geometry>
      <cylinder length="0.15" radius="0.02"/>
    </geometry>
  </visual>
  <collision>
    <origin rpy="0 1.57 0" xyz="-0.095 0 0"/>
    <geometry>
      <cylinder length="0.15" radius="0.02"/>
    </geometry>
  </collision>
 </link>

<joint name="joint_revolute_branch_55_branch_56_cylinder_Z" type="revolute">
  <origin rpy="0 0 0" xyz="0 0 0"/>
  <parent link="branch_55"/>
  <child link="branch_56_cylinder"/>
  <axis xyz="0 -0.7071067811865475 0.7071067811865477"/>
  <dynamics damping="0.01" friction="0.5"/>
  <limit lower="-1.5707963267948966" upper="1.5707963267948966" effort="0.01" velocity="100"/>
</joint>

<link name="branch_56">
  <inertial>
   <mass value="1"/>
   <inertia ixx="0.00014439999999999999" ixy="0" ixz="0" iyy="0.00014439999999999999" iyz="0" izz="0.00014439999999999999"/>
  </inertial>
  <collision>
    <origin rpy="0 0 0" xyz="0 0 0"/>
    <geometry>
      <sphere radius="0.019"/>
    </geometry>
  </collision>
  <visual>
    <origin rpy="0 0 0" xyz="0 0 0"/>
    <geometry>
      <sphere radius="0.019"/>
    </geometry>
  </visual>
</link>

<joint name="joint_fixed_branch_56_cylinder_branch_56" type="fixed">
  <origin rpy="0 0 0" xyz="-0.19 0 0"/>
  <parent link="branch_56_cylinder"/>
  <child link="branch_56"/>
</joint>

<!--############################################################################
branch_60
##############################################################################-->
 <link name="branch_60_cylinder_stub">
  <inertial>
    <mass value="1"/>
    <inertia ixx="0.0005687499999999999" ixy="0" ixz="0" iyy="0.0005687499999999999" iyz="0" izz="0.0001"/>
  </inertial>
  <visual>
    <origin rpy="0 1.57 0" xyz="-0.0375 0 0"/>
    <geometry>
      <cylinder length="0.075" radius="0.02"/>
    </geometry>
  </visual>
  <collision>
    <origin rpy="0 1.57 0" xyz="-0.0375 0 0"/>
    <geometry>
      <cylinder length="0.075" radius="0.02"/>
    </geometry>
  </collision>
 </link>

<joint name="joint_fixed_head_branch_60_cylinder_stub" type="fixed">
  <origin rpy="0 0 0" xyz="-0.2 -1.2858791391047206e-17 -0.06999999999999999"/>
  <parent link="head"/>
  <child link="branch_60_cylinder_stub"/>
</joint>

<link name="branch_60_sphere_stub">
  <inertial>
   <mass value="1"/>
   <inertia ixx="0.00014439999999999999" ixy="0" ixz="0" iyy="0.00014439999999999999" iyz="0" izz="0.00014439999999999999"/>
  </inertial>
  <collision>
    <origin rpy="0 0 0" xyz="-0.095 0 0"/>
    <geometry>
      <sphere radius="0.019"/>
    </geometry>
  </collision>
  <visual>
    <origin rpy="0 0 0" xyz="-0.095 0 0"/>
    <geometry>
      <sphere radius="0.019"/>
    </geometry>
  </visual>
</link>

<joint name="joint_fixed_branch_60_cylinder_stub_branch_60_sphere_stub" type="fixed">
  <origin rpy="0 0 0" xyz="0 0 0"/>
  <parent link="branch_60_cylinder_stub"/>
  <child link="branch_60_sphere_stub"/>
</joint>

 <link name="branch_60_cylinder">
  <inertial>
    <mass value="1"/>
    <inertia ixx="0.0019749999999999998" ixy="0" ixz="0" iyy="0.0019749999999999998" iyz="0" izz="0.0001"/>
  </inertial>
  <visual>
    <origin rpy="0 -3.141592653589793 1.57" xyz="-0.095 -1.745121688784978e-17 -0.095"/>
    <geometry>
      <cylinder length="0.15" radius="0.02"/>
    </geometry>
  </visual>
  <collision>
    <origin rpy="0 -3.141592653589793 1.57" xyz="-0.095 -1.745121688784978e-17 -0.095"/>
    <geometry>
      <cylinder length="0.15" radius="0.02"/>
    </geometry>
  </collision>
 </link>

<joint name="joint_fixed_branch_60_sphere_stub_branch_60_cylinder" type="fixed">
  <origin rpy="0 0 0" xyz="0 0 0"/>
  <parent link="branch_60_sphere_stub"/>
  <child link="branch_60_cylinder"/>
</joint>

<link name="branch_60">
  <inertial>
   <mass value="1"/>
   <inertia ixx="0.00014439999999999999" ixy="0" ixz="0" iyy="0.00014439999999999999" iyz="0" izz="0.00014439999999999999"/>
  </inertial>
  <collision>
    <origin rpy="0 0 0" xyz="0 0 0"/>
    <geometry>
      <sphere radius="0.019"/>
    </geometry>
  </collision>
  <visual>
    <origin rpy="0 0 0" xyz="0 0 0"/>
    <geometry>
      <sphere radius="0.019"/>
    </geometry>
  </visual>
</link>

<joint name="joint_fixed_branch_60_cylinder_branch_60" type="fixed">
  <origin rpy="0 0 0" xyz="-0.095 -3.490243377569956e-17 -0.19"/>
  <parent link="branch_60_cylinder"/>
  <child link="branch_60"/>
</joint>

<!--############################################################################
branch_61
##############################################################################-->
 <link name="branch_61_cylinder">
  <inertial>
    <mass value="1"/>
    <inertia ixx="0.0019749999999999998" ixy="0" ixz="0" iyy="0.0019749999999999998" iyz="0" izz="0.0001"/>
  </inertial>
  <visual>
    <origin rpy="0 1.57 0" xyz="-0.095 0 0"/>
    <geometry>
      <cylinder length="0.15" radius="0.02"/>
    </geometry>
  </visual>
  <collision>
    <origin rpy="0 1.57 0" xyz="-0.095 0 0"/>
    <geometry>
      <cylinder length="0.15" radius="0.02"/>
    </geometry>
  </collision>
 </link>

<joint name="joint_revolute_branch_60_branch_61_cylinder_Z" type="revolute">
  <origin rpy="0 0 0" xyz="0 0 0"/>
  <parent link="branch_60"/>
  <child link="branch_61_cylinder"/>
  <axis xyz="0 -1.0 1.8369701987210297e-16"/>
  <dynamics damping="0.01" friction="0.5"/>
  <limit lower="-1.5707963267948966" upper="1.5707963267948966" effort="0.01" velocity="100"/>
</joint>

<link name="branch_61">
  <inertial>
   <mass value="1"/>
   <inertia ixx="0.00014439999999999999" ixy="0" ixz="0" iyy="0.00014439999999999999" iyz="0" izz="0.00014439999999999999"/>
  </inertial>
  <collision>
    <origin rpy="0 0 0" xyz="0 0 0"/>
    <geometry>
      <sphere radius="0.019"/>
    </geometry>
  </collision>
  <visual>
    <origin rpy="0 0 0" xyz="0 0 0"/>
    <geometry>
      <sphere radius="0.019"/>
    </geometry>
  </visual>
</link>

<joint name="joint_fixed_branch_61_cylinder_branch_61" type="fixed">
  <origin rpy="0 0 0" xyz="-0.19 0 0"/>
  <parent link="branch_61_cylinder"/>
  <child link="branch_61"/>
</joint>

<!--############################################################################
branch_62
##############################################################################-->
 <link name="branch_62_cylinder">
  <inertial>
    <mass value="1"/>
    <inertia ixx="0.0019749999999999998" ixy="0" ixz="0" iyy="0.0019749999999999998" iyz="0" izz="0.0001"/>
  </inertial>
  <visual>
    <origin rpy="0 1.57 0" xyz="-0.095 0 0"/>
    <geometry>
      <cylinder length="0.15" radius="0.02"/>
    </geometry>
  </visual>
  <collision>
    <origin rpy="0 1.57 0" xyz="-0.095 0 0"/>
    <geometry>
      <cylinder length="0.15" radius="0.02"/>
    </geometry>
  </collision>
 </link>

<joint name="joint_revolute_branch_61_branch_62_cylinder_Z" type="revolute">
  <origin rpy="0 0 0" xyz="0 0 0"/>
  <parent link="branch_61"/>
  <child link="branch_62_cylinder"/>
  <axis xyz="0 -1.0 1.8369701987210297e-16"/>
  <dynamics damping="0.01" friction="0.5"/>
  <limit lower="-1.5707963267948966" upper="1.5707963267948966" effort="0.01" velocity="100"/>
</joint>

<link name="branch_62">
  <inertial>
   <mass value="1"/>
   <inertia ixx="0.00014439999999999999" ixy="0" ixz="0" iyy="0.00014439999999999999" iyz="0" izz="0.00014439999999999999"/>
  </inertial>
  <collision>
    <origin rpy="0 0 0" xyz="0 0 0"/>
    <geometry>
      <sphere radius="0.019"/>
    </geometry>
  </collision>
  <visual>
    <origin rpy="0 0 0" xyz="0 0 0"/>
    <geometry>
      <sphere radius="0.019"/>
    </geometry>
  </visual>
</link>

<joint name="joint_fixed_branch_62_cylinder_branch_62" type="fixed">
  <origin rpy="0 0 0" xyz="-0.19 0 0"/>
  <parent link="branch_62_cylinder"/>
  <child link="branch_62"/>
</joint>

<!--############################################################################
branch_63
##############################################################################-->
 <link name="branch_63_cylinder">
  <inertial>
    <mass value="1"/>
    <inertia ixx="0.0019749999999999998" ixy="0" ixz="0" iyy="0.0019749999999999998" iyz="0" izz="0.0001"/>
  </inertial>
  <visual>
    <origin rpy="0 1.57 0" xyz="-0.095 0 0"/>
    <geometry>
      <cylinder length="0.15" radius="0.02"/>
    </geometry>
  </visual>
  <collision>
    <origin rpy="0 1.57 0" xyz="-0.095 0 0"/>
    <geometry>
      <cylinder length="0.15" radius="0.02"/>
    </geometry>
  </collision>
 </link>

<joint name="joint_revolute_branch_62_branch_63_cylinder_Z" type="revolute">
  <origin rpy="0 0 0" xyz="0 0 0"/>
  <parent link="branch_62"/>
  <child link="branch_63_cylinder"/>
  <axis xyz="0 -1.0 1.8369701987210297e-16"/>
  <dynamics damping="0.01" friction="0.5"/>
  <limit lower="-1.5707963267948966" upper="1.5707963267948966" effort="0.01" velocity="100"/>
</joint>

<link name="branch_63">
  <inertial>
   <mass value="1"/>
   <inertia ixx="0.00014439999999999999" ixy="0" ixz="0" iyy="0.00014439999999999999" iyz="0" izz="0.00014439999999999999"/>
  </inertial>
  <collision>
    <origin rpy="0 0 0" xyz="0 0 0"/>
    <geometry>
      <sphere radius="0.019"/>
    </geometry>
  </collision>
  <visual>
    <origin rpy="0 0 0" xyz="0 0 0"/>
    <geometry>
      <sphere radius="0.019"/>
    </geometry>
  </visual>
</link>

<joint name="joint_fixed_branch_63_cylinder_branch_63" type="fixed">
  <origin rpy="0 0 0" xyz="-0.19 0 0"/>
  <parent link="branch_63_cylinder"/>
  <child link="branch_63"/>
</joint>

  <klampt package_root="../../.." default_acc_max="4" >
  </klampt>
</robot>
